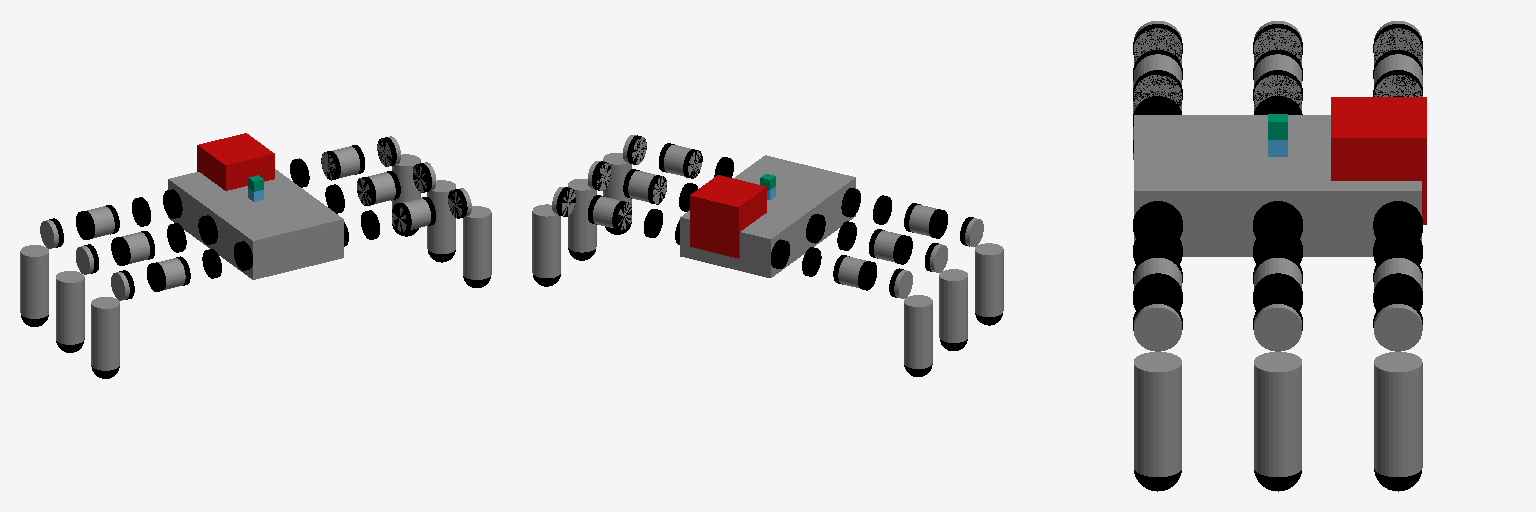
--- Render facts (derived) ---
Views: 3 orthographic renders of the robot side by side, from view 1: azimuth 30°, elevation 25°; view 2: azimuth 150°, elevation 25°; view 3: azimuth 270°, elevation 25°.
Model snake_monster with 95 links and 94 joints (20 revolute, 74 fixed), rooted at base, posed every joint at zero.
Visible links, largest first — view 1: base, imu_link, elbow__leg5__AFTER_CORNER_BODY, elbow__leg4__AFTER_CORNER_BODY, elbow__leg6__AFTER_CORNER_BODY, elbow__leg3__AFTER_CORNER_BODY, elbow__leg2__AFTER_CORNER_BODY, elbow__leg1__AFTER_CORNER_BODY, extender__leg1__INPUT_INTERFACE, extender__leg2__INPUT_INTERFACE, extender__leg3__INPUT_INTERFACE, extender__leg6__INPUT_INTERFACE (+2 smaller); view 2: base, imu_link, elbow__leg5__AFTER_CORNER_BODY, elbow__leg6__AFTER_CORNER_BODY, elbow__leg4__AFTER_CORNER_BODY, elbow__leg1__AFTER_CORNER_BODY, elbow__leg2__AFTER_CORNER_BODY, elbow__leg3__AFTER_CORNER_BODY, extender__leg2__INPUT_INTERFACE, extender__leg3__INPUT_INTERFACE, extender__leg1__INPUT_INTERFACE, extender__leg4__INPUT_INTERFACE (+2 smaller); view 3: base, imu_link, elbow__leg1__AFTER_CORNER_BODY, elbow__leg2__AFTER_CORNER_BODY, elbow__leg3__AFTER_CORNER_BODY, elbow__leg1__INPUT_INTERFACE, elbow__leg2__INPUT_INTERFACE, elbow__leg3__INPUT_INTERFACE, extender__leg5__INPUT_INTERFACE, extender__leg4__INPUT_INTERFACE, extender__leg6__INPUT_INTERFACE, SA030__MoJo__INPUT_INTERFACE__COLLAR (+20 smaller).
Link boxes in pixels (x1,y1,x2,y2): base: (168,169,343,279); imu_link: (197,133,274,190); elbow__leg5__AFTER_CORNER_BODY: (56,271,84,344); elbow__leg4__AFTER_CORNER_BODY: (91,297,119,370); elbow__leg6__AFTER_CORNER_BODY: (20,245,48,318); elbow__leg3__AFTER_CORNER_BODY: (463,206,491,279); elbow__leg2__AFTER_CORNER_BODY: (427,180,455,253); elbow__leg1__AFTER_CORNER_BODY: (392,154,420,225); extender__leg1__INPUT_INTERFACE: (321,146,359,179); extender__leg2__INPUT_INTERFACE: (357,172,395,204); extender__leg3__INPUT_INTERFACE: (392,198,430,231); extender__leg6__INPUT_INTERFACE: (87,206,114,237); base: (680,155,855,277); imu_link: (690,175,766,258); elbow__leg5__AFTER_CORNER_BODY: (939,269,967,342); elbow__leg6__AFTER_CORNER_BODY: (904,295,932,368); elbow__leg4__AFTER_CORNER_BODY: (975,243,1003,316); elbow__leg1__AFTER_CORNER_BODY: (532,204,560,277); elbow__leg2__AFTER_CORNER_BODY: (568,179,596,252); elbow__leg3__AFTER_CORNER_BODY: (603,153,631,223); extender__leg2__INPUT_INTERFACE: (628,171,666,203); extender__leg3__INPUT_INTERFACE: (664,145,701,177); extender__leg1__INPUT_INTERFACE: (593,196,631,229); extender__leg4__INPUT_INTERFACE: (909,205,936,236); base: (1134,115,1421,256); imu_link: (1331,97,1426,224); elbow__leg1__AFTER_CORNER_BODY: (1374,352,1422,476); elbow__leg2__AFTER_CORNER_BODY: (1254,352,1301,476); elbow__leg3__AFTER_CORNER_BODY: (1134,352,1181,476); elbow__leg1__INPUT_INTERFACE: (1374,304,1422,351); elbow__leg2__INPUT_INTERFACE: (1254,304,1301,351); elbow__leg3__INPUT_INTERFACE: (1134,304,1181,351); extender__leg5__INPUT_INTERFACE: (1254,54,1301,106); extender__leg4__INPUT_INTERFACE: (1134,54,1181,106); extender__leg6__INPUT_INTERFACE: (1374,54,1422,96); SA030__MoJo__INPUT_INTERFACE__COLLAR: (1253,273,1302,310).
Size in the robot's own frame: 0.8082 by 0.306 by 0.2593 metres.
Meshes: 4 distinct files referenced, 0 mesh visuals loaded (none loaded); not drawn: 42 (reference not matched to a file when rendering), 1 (file found but could not be loaded).

URDF robot description (snake_monster):
<?xml version="1.0" ?>
<!-- =================================================================================== -->
<!-- |    This document was autogenerated by xacro from my_snake_monster.xacro         | -->
<!-- |    EDITING THIS FILE BY HAND IS NOT RECOMMENDED                                 | -->
<!-- =================================================================================== -->
<robot name="snake_monster" xmlns:xacro="http://www.ros.org/wiki/xacro">
  <!-- *************************** XACRO MACROS *************************** -->
  <!-- ************************* ROBOT DEFINITION ************************* -->
  <!-- base body -->
  <link name="base">
    <visual>
      <origin rpy="0 0 0" xyz="0 0 0.0381"/>
      <geometry>
        <box size="0.185 0.3 0.0762"/>
      </geometry>
      <material name="silver">
        <color rgba="0.6 0.6 0.6 1"/>
      </material>
    </visual>
    <collision>
      <origin rpy="0 0 0" xyz="0 0 0.0381"/>
      <geometry>
        <box size="0.185 0.3 0.0762"/>
      </geometry>
    </collision>
    <inertial>
      <origin rpy="0 0 0" xyz="0 0 0.0381"/>
      <mass value="1.0"/>
      <inertia ixx="0.00798387" ixy="0" ixz="0" iyy="0.00333595333333" iyz="0" izz="0.0103520833333"/>
    </inertial>
  </link>
  <link name="xrot">
    <visual>
      <origin rpy="0 0 0" xyz="0 0 0.01"/>
      <geometry>
        <box size="0.02 0.02 0.02"/>
      </geometry>
    </visual>
    <inertial>
      <mass value="1e-3"/>
      <inertia ixx="1e-3" ixy="0" ixz="0" iyy="1e-3" iyz="0" izz="1e-3"/>
    </inertial>
  </link>
  <joint name="xrot_joint" type="revolute">
    <parent link="base"/>
    <child link="xrot"/>
    <origin rpy="0 0 0" xyz="0 0 0.0762"/>
    <axis xyz="1 0 0"/>
    <dynamics damping=".05" friction="0.2"/>
    <limit effort="100.0" lower="-1.57" upper="1.57" velocity="2.208932"/>
  </joint>
  <transmission name="xrot_trans">
    <type>transmission_interface/SimpleTransmission</type>
    <joint name="xrot_joint">
      <hardwareInterface>EffortJointInterface</hardwareInterface>
    </joint>
    <actuator name="xrot_motor">
      <hardwareInterface>EffortJointInterface</hardwareInterface>
      <mechanicalReduction>300</mechanicalReduction>
    </actuator>
  </transmission>
  <link name="yrot">
    <visual>
      <origin rpy="0 0 0" xyz="0 0 0.01"/>
      <geometry>
        <box size="0.02 0.02 0.02"/>
      </geometry>
    </visual>
    <inertial>
      <mass value="1e-3"/>
      <inertia ixx="1e-3" ixy="0" ixz="0" iyy="1e-3" iyz="0" izz="1e-3"/>
    </inertial>
  </link>
  <joint name="yrot_joint" type="revolute">
    <parent link="xrot"/>
    <child link="yrot"/>
    <origin rpy="0 0 0" xyz="0 0 0.02"/>
    <axis xyz="0 1 0"/>
    <dynamics damping=".05" friction="0.2"/>
    <limit effort="7.0" lower="-1.57" upper="1.57" velocity="2.208932"/>
  </joint>
  <transmission name="yrot_trans">
    <type>transmission_interface/SimpleTransmission</type>
    <joint name="yrot_joint">
      <hardwareInterface>EffortJointInterface</hardwareInterface>
    </joint>
    <actuator name="yrot_motor">
      <hardwareInterface>EffortJointInterface</hardwareInterface>
      <mechanicalReduction>300</mechanicalReduction>
    </actuator>
  </transmission>
  <!-- leg outputs on the base -->
  <joint name="leg1__OUTPUT_INTERFACE" type="fixed">
    <parent link="base"/>
    <child link="SA014__MoJo__INPUT_INTERFACE"/>
    <origin rpy="-1.57079632679 0 -1.57079632679" xyz="0.0925 0.125 0.0381"/>
  </joint>
  <joint name="leg2__OUTPUT_INTERFACE" type="fixed">
    <parent link="base"/>
    <child link="SA037__MoJo__INPUT_INTERFACE"/>
    <origin rpy="-1.57079632679 0 -1.57079632679" xyz="0.0925 0 0.0381"/>
  </joint>
  <joint name="leg3__OUTPUT_INTERFACE" type="fixed">
    <parent link="base"/>
    <child link="SA036__MoJo__INPUT_INTERFACE"/>
    <origin rpy="-1.57079632679 0 -1.57079632679" xyz="0.0925 -0.125 0.0381"/>
  </joint>
  <joint name="leg6__OUTPUT_INTERFACE" type="fixed">
    <parent link="base"/>
    <child link="SA043__MoJo__INPUT_INTERFACE"/>
    <origin rpy="-1.57079632679 0 1.57079632679" xyz="-0.0925 0.125 0.0381"/>
  </joint>
  <joint name="leg5__OUTPUT_INTERFACE" type="fixed">
    <parent link="base"/>
    <child link="SA002__MoJo__INPUT_INTERFACE"/>
    <origin rpy="-1.57079632679 0 1.57079632679" xyz="-0.0925 0 0.0381"/>
  </joint>
  <joint name="leg4__OUTPUT_INTERFACE" type="fixed">
    <parent link="base"/>
    <child link="SA022__MoJo__INPUT_INTERFACE"/>
    <origin rpy="-1.57079632679 0 1.57079632679" xyz="-0.0925 -0.125 0.0381"/>
  </joint>
  <!-- ros_control plugin -->
  <gazebo>
    <plugin filename="libgazebo_ros_control.so" name="gazebo_ros_control">
      <robotNamespace>/snake_monster</robotNamespace>
      <!-- <robotSimType>gazebo_ros_control/DefaultRobotHWSim</robotSimType> -->
    </plugin>
  </gazebo>
  <!-- imu sensor plugin -->
  <gazebo>
    <plugin filename="libgazebo_ros_imu.so" name="ros_imu_sensor">
      <robotNamespace>/snake_monster</robotNamespace>
      <updateRate>200.0</updateRate>
      <gaussianNoise>0.005</gaussianNoise>
      <topicName>sensors/imu</topicName>
      <serviceName>sensors/imu</serviceName>
      <bodyName>imu_link</bodyName>
      <xyzOffset>0 0 0</xyzOffset>
      <rpyOffset>0 0 0</rpyOffset>
    </plugin>
  </gazebo>
  <!--xacro:include filename="$(find kobuki_description)/urdf/sensors/lidar_sensor.urdf.xacro" /-->
  <gazebo reference="base">
    <material>Gazebo/Silver</material>
  </gazebo>
  <gazebo reference="SA014__MoJo__OUTPUT_BODY">
    <material>Gazebo/Red</material>
    <static>false</static>
    <selfCollide>true</selfCollide>
  </gazebo>
  <gazebo reference="SA014__MoJo__INPUT_INTERFACE">
    <material>Gazebo/Red</material>
    <static>false</static>
    <selfCollide>true</selfCollide>
  </gazebo>
  <gazebo reference="SA013__MoJo__OUTPUT_BODY">
    <material>Gazebo/Red</material>
    <static>false</static>
    <selfCollide>true</selfCollide>
  </gazebo>
  <gazebo reference="SA013__MoJo__INPUT_INTERFACE">
    <material>Gazebo/Red</material>
    <static>false</static>
    <selfCollide>true</selfCollide>
  </gazebo>
  <gazebo reference="SA023__MoJo__OUTPUT_BODY">
    <material>Gazebo/Red</material>
    <static>false</static>
    <selfCollide>true</selfCollide>
  </gazebo>
  <gazebo reference="SA023__MoJo__INPUT_INTERFACE">
    <material>Gazebo/Red</material>
    <static>false</static>
    <selfCollide>true</selfCollide>
  </gazebo>
  <gazebo reference="SA023__MoJo__INPUT_INTERFACE__COLLAR">
    <material>Gazebo/Black</material>
    <static>false</static>
    <selfCollide>true</selfCollide>
  </gazebo>
  <gazebo reference="elbow__leg1__INPUT_INTERFACE">
    <material>Gazebo/Silver</material>
    <static>false</static>
    <selfCollide>true</selfCollide>
  </gazebo>
  <gazebo reference="elbow__leg1__INPUT_INTERFACE__COLLAR">
    <material>Gazebo/Black</material>
    <static>false</static>
    <selfCollide>true</selfCollide>
  </gazebo>
  <gazebo reference="elbow__leg1__AFTER_CORNER_BODY">
    <material>Gazebo/Silver</material>
    <static>false</static>
    <selfCollide>true</selfCollide>
  </gazebo>
  <gazebo reference="extender__leg1__INPUT_INTERFACE">
    <material>Gazebo/Silver</material>
    <static>false</static>
    <selfCollide>true</selfCollide>
  </gazebo>
  <gazebo reference="extender__leg1__INPUT_INTERFACE__COLLAR">
    <material>Gazebo/Black</material>
    <static>false</static>
    <selfCollide>true</selfCollide>
  </gazebo>
  <gazebo reference="foot__leg1__INPUT_INTERFACE">
    <mu1>0.9</mu1>
    <mu2>0.9</mu2>
    <material>Gazebo/Black</material>
    <static>false</static>
    <selfCollide>true</selfCollide>
  </gazebo>
  <gazebo reference="SA037__MoJo__OUTPUT_BODY">
    <material>Gazebo/Red</material>
    <static>false</static>
    <selfCollide>true</selfCollide>
  </gazebo>
  <gazebo reference="SA037__MoJo__INPUT_INTERFACE">
    <material>Gazebo/Red</material>
    <static>false</static>
    <selfCollide>true</selfCollide>
  </gazebo>
  <gazebo reference="SA049__MoJo__OUTPUT_BODY">
    <material>Gazebo/Red</material>
    <static>false</static>
    <selfCollide>true</selfCollide>
  </gazebo>
  <gazebo reference="SA049__MoJo__INPUT_INTERFACE">
    <material>Gazebo/Red</material>
    <static>false</static>
    <selfCollide>true</selfCollide>
  </gazebo>
  <gazebo reference="SA030__MoJo__OUTPUT_BODY">
    <material>Gazebo/Red</material>
    <static>false</static>
    <selfCollide>true</selfCollide>
  </gazebo>
  <gazebo reference="SA030__MoJo__INPUT_INTERFACE">
    <material>Gazebo/Red</material>
    <static>false</static>
    <selfCollide>true</selfCollide>
  </gazebo>
  <gazebo reference="SA030__MoJo__INPUT_INTERFACE__COLLAR">
    <material>Gazebo/Black</material>
    <static>false</static>
    <selfCollide>true</selfCollide>
  </gazebo>
  <gazebo reference="elbow__leg2__INPUT_INTERFACE">
    <material>Gazebo/Silver</material>
    <static>false</static>
    <selfCollide>true</selfCollide>
  </gazebo>
  <gazebo reference="elbow__leg2__INPUT_INTERFACE__COLLAR">
    <material>Gazebo/Black</material>
    <static>false</static>
    <selfCollide>true</selfCollide>
  </gazebo>
  <gazebo reference="elbow__leg2__AFTER_CORNER_BODY">
    <material>Gazebo/Silver</material>
    <static>false</static>
    <selfCollide>true</selfCollide>
  </gazebo>
  <gazebo reference="extender__leg2__INPUT_INTERFACE">
    <material>Gazebo/Silver</material>
    <static>false</static>
    <selfCollide>true</selfCollide>
  </gazebo>
  <gazebo reference="extender__leg2__INPUT_INTERFACE__COLLAR">
    <material>Gazebo/Black</material>
    <static>false</static>
    <selfCollide>true</selfCollide>
  </gazebo>
  <gazebo reference="foot__leg2__INPUT_INTERFACE">
    <mu1>0.9</mu1>
    <mu2>0.9</mu2>
    <material>Gazebo/Black</material>
    <static>false</static>
    <selfCollide>true</selfCollide>
  </gazebo>
  <gazebo reference="SA036__MoJo__OUTPUT_BODY">
    <material>Gazebo/Red</material>
    <static>false</static>
    <selfCollide>true</selfCollide>
  </gazebo>
  <gazebo reference="SA036__MoJo__INPUT_INTERFACE">
    <material>Gazebo/Red</material>
    <static>false</static>
    <selfCollide>true</selfCollide>
  </gazebo>
  <gazebo reference="SA046__MoJo__OUTPUT_BODY">
    <material>Gazebo/Red</material>
    <static>false</static>
    <selfCollide>true</selfCollide>
  </gazebo>
  <gazebo reference="SA046__MoJo__INPUT_INTERFACE">
    <material>Gazebo/Red</material>
    <static>false</static>
    <selfCollide>true</selfCollide>
  </gazebo>
  <gazebo reference="SA038__MoJo__OUTPUT_BODY">
    <material>Gazebo/Red</material>
    <static>false</static>
    <selfCollide>true</selfCollide>
  </gazebo>
  <gazebo reference="SA038__MoJo__INPUT_INTERFACE">
    <material>Gazebo/Red</material>
    <static>false</static>
    <selfCollide>true</selfCollide>
  </gazebo>
  <gazebo reference="SA038__MoJo__INPUT_INTERFACE__COLLAR">
    <material>Gazebo/Black</material>
    <static>false</static>
    <selfCollide>true</selfCollide>
  </gazebo>
  <gazebo reference="elbow__leg3__INPUT_INTERFACE">
    <material>Gazebo/Silver</material>
    <static>false</static>
    <selfCollide>true</selfCollide>
  </gazebo>
  <gazebo reference="elbow__leg3__INPUT_INTERFACE__COLLAR">
    <material>Gazebo/Black</material>
    <static>false</static>
    <selfCollide>true</selfCollide>
  </gazebo>
  <gazebo reference="elbow__leg3__AFTER_CORNER_BODY">
    <material>Gazebo/Silver</material>
    <static>false</static>
    <selfCollide>true</selfCollide>
  </gazebo>
  <gazebo reference="extender__leg3__INPUT_INTERFACE">
    <material>Gazebo/Silver</material>
    <static>false</static>
    <selfCollide>true</selfCollide>
  </gazebo>
  <gazebo reference="extender__leg3__INPUT_INTERFACE__COLLAR">
    <material>Gazebo/Black</material>
    <static>false</static>
    <selfCollide>true</selfCollide>
  </gazebo>
  <gazebo reference="foot__leg3__INPUT_INTERFACE">
    <mu1>0.9</mu1>
    <mu2>0.9</mu2>
    <material>Gazebo/Black</material>
    <static>false</static>
    <selfCollide>true</selfCollide>
  </gazebo>
  <gazebo reference="SA022__MoJo__OUTPUT_BODY">
    <material>Gazebo/Red</material>
    <static>false</static>
    <selfCollide>true</selfCollide>
  </gazebo>
  <gazebo reference="SA022__MoJo__INPUT_INTERFACE">
    <material>Gazebo/Red</material>
    <static>false</static>
    <selfCollide>true</selfCollide>
  </gazebo>
  <gazebo reference="SA050__MoJo__OUTPUT_BODY">
    <material>Gazebo/Red</material>
    <static>false</static>
    <selfCollide>true</selfCollide>
  </gazebo>
  <gazebo reference="SA050__MoJo__INPUT_INTERFACE">
    <material>Gazebo/Red</material>
    <static>false</static>
    <selfCollide>true</selfCollide>
  </gazebo>
  <gazebo reference="SA031__MoJo__OUTPUT_BODY">
    <material>Gazebo/Red</material>
    <static>false</static>
    <selfCollide>true</selfCollide>
  </gazebo>
  <gazebo reference="SA031__MoJo__INPUT_INTERFACE">
    <material>Gazebo/Red</material>
    <static>false</static>
    <selfCollide>true</selfCollide>
  </gazebo>
  <gazebo reference="SA031__MoJo__INPUT_INTERFACE__COLLAR">
    <material>Gazebo/Black</material>
    <static>false</static>
    <selfCollide>true</selfCollide>
  </gazebo>
  <gazebo reference="elbow__leg4__INPUT_INTERFACE">
    <material>Gazebo/Silver</material>
    <static>false</static>
    <selfCollide>true</selfCollide>
  </gazebo>
  <gazebo reference="elbow__leg4__INPUT_INTERFACE__COLLAR">
    <material>Gazebo/Black</material>
    <static>false</static>
    <selfCollide>true</selfCollide>
  </gazebo>
  <gazebo reference="elbow__leg4__AFTER_CORNER_BODY">
    <material>Gazebo/Silver</material>
    <static>false</static>
    <selfCollide>true</selfCollide>
  </gazebo>
  <gazebo reference="extender__leg4__INPUT_INTERFACE">
    <material>Gazebo/Silver</material>
    <static>false</static>
    <selfCollide>true</selfCollide>
  </gazebo>
  <gazebo reference="extender__leg4__INPUT_INTERFACE__COLLAR">
    <material>Gazebo/Black</material>
    <static>false</static>
    <selfCollide>true</selfCollide>
  </gazebo>
  <gazebo reference="foot__leg4__INPUT_INTERFACE">
    <mu1>0.9</mu1>
    <mu2>0.9</mu2>
    <material>Gazebo/Black</material>
    <static>false</static>
    <selfCollide>true</selfCollide>
  </gazebo>
  <gazebo reference="SA002__MoJo__OUTPUT_BODY">
    <material>Gazebo/Red</material>
    <static>false</static>
    <selfCollide>true</selfCollide>
  </gazebo>
  <gazebo reference="SA002__MoJo__INPUT_INTERFACE">
    <material>Gazebo/Red</material>
    <static>false</static>
    <selfCollide>true</selfCollide>
  </gazebo>
  <gazebo reference="SA003__MoJo__OUTPUT_BODY">
    <material>Gazebo/Red</material>
    <static>false</static>
    <selfCollide>true</selfCollide>
  </gazebo>
  <gazebo reference="SA003__MoJo__INPUT_INTERFACE">
    <material>Gazebo/Red</material>
    <static>false</static>
    <selfCollide>true</selfCollide>
  </gazebo>
  <gazebo reference="SA048__MoJo__OUTPUT_BODY">
    <material>Gazebo/Red</material>
    <static>false</static>
    <selfCollide>true</selfCollide>
  </gazebo>
  <gazebo reference="SA048__MoJo__INPUT_INTERFACE">
    <material>Gazebo/Red</material>
    <static>false</static>
    <selfCollide>true</selfCollide>
  </gazebo>
  <gazebo reference="SA048__MoJo__INPUT_INTERFACE__COLLAR">
    <material>Gazebo/Black</material>
    <static>false</static>
    <selfCollide>true</selfCollide>
  </gazebo>
  <gazebo reference="elbow__leg5__INPUT_INTERFACE">
    <material>Gazebo/Silver</material>
    <static>false</static>
    <selfCollide>true</selfCollide>
  </gazebo>
  <gazebo reference="elbow__leg5__INPUT_INTERFACE__COLLAR">
    <material>Gazebo/Black</material>
    <static>false</static>
    <selfCollide>true</selfCollide>
  </gazebo>
  <gazebo reference="elbow__leg5__AFTER_CORNER_BODY">
    <material>Gazebo/Silver</material>
    <static>false</static>
    <selfCollide>true</selfCollide>
  </gazebo>
  <gazebo reference="extender__leg5__INPUT_INTERFACE">
    <material>Gazebo/Silver</material>
    <static>false</static>
    <selfCollide>true</selfCollide>
  </gazebo>
  <gazebo reference="extender__leg5__INPUT_INTERFACE__COLLAR">
    <material>Gazebo/Black</material>
    <static>false</static>
    <selfCollide>true</selfCollide>
  </gazebo>
  <gazebo reference="foot__leg5__INPUT_INTERFACE">
    <mu1>0.9</mu1>
    <mu2>0.9</mu2>
    <material>Gazebo/Black</material>
    <static>false</static>
    <selfCollide>true</selfCollide>
  </gazebo>
  <gazebo reference="SA043__MoJo__OUTPUT_BODY">
    <material>Gazebo/Red</material>
    <static>false</static>
    <selfCollide>true</selfCollide>
  </gazebo>
  <gazebo reference="SA043__MoJo__INPUT_INTERFACE">
    <material>Gazebo/Red</material>
    <static>false</static>
    <selfCollide>true</selfCollide>
  </gazebo>
  <gazebo reference="SA005__MoJo__OUTPUT_BODY">
    <material>Gazebo/Red</material>
    <static>false</static>
    <selfCollide>true</selfCollide>
  </gazebo>
  <gazebo reference="SA005__MoJo__INPUT_INTERFACE">
    <material>Gazebo/Red</material>
    <static>false</static>
    <selfCollide>true</selfCollide>
  </gazebo>
  <gazebo reference="SA001__MoJo__OUTPUT_BODY">
    <material>Gazebo/Red</material>
    <static>false</static>
    <selfCollide>true</selfCollide>
  </gazebo>
  <gazebo reference="SA001__MoJo__INPUT_INTERFACE">
    <material>Gazebo/Red</material>
    <static>false</static>
    <selfCollide>true</selfCollide>
  </gazebo>
  <gazebo reference="SA001__MoJo__INPUT_INTERFACE__COLLAR">
    <material>Gazebo/Black</material>
    <static>false</static>
    <selfCollide>true</selfCollide>
  </gazebo>
  <gazebo reference="elbow__leg6__INPUT_INTERFACE">
    <material>Gazebo/Silver</material>
    <static>false</static>
    <selfCollide>true</selfCollide>
  </gazebo>
  <gazebo reference="elbow__leg6__INPUT_INTERFACE__COLLAR">
    <material>Gazebo/Black</material>
    <static>false</static>
    <selfCollide>true</selfCollide>
  </gazebo>
  <gazebo reference="elbow__leg6__AFTER_CORNER_BODY">
    <material>Gazebo/Silver</material>
    <static>false</static>
    <selfCollide>true</selfCollide>
  </gazebo>
  <gazebo reference="extender__leg6__INPUT_INTERFACE">
    <material>Gazebo/Silver</material>
    <static>false</static>
    <selfCollide>true</selfCollide>
  </gazebo>
  <gazebo reference="extender__leg6__INPUT_INTERFACE__COLLAR">
    <material>Gazebo/Black</material>
    <static>false</static>
    <selfCollide>true</selfCollide>
  </gazebo>
  <gazebo reference="foot__leg6__INPUT_INTERFACE">
    <mu1>0.9</mu1>
    <mu2>0.9</mu2>
    <material>Gazebo/Black</material>
    <static>false</static>
    <selfCollide>true</selfCollide>
  </gazebo>
  <gazebo reference="SA014__MoJo">
    <!-- required for joint torque feedback -->
    <provideFeedback>true</provideFeedback>
  </gazebo>
  <!-- joint_torque_sensor plugin -->
  <gazebo>
    <plugin filename="libgazebo_ros_ft_sensor.so" name="SA014__MoJo_ros_ft_sensor">
      <robotNamespace>/snake_monster</robotNamespace>
      <updateRate>200.0</updateRate>
      <gaussianNoise>0.025</gaussianNoise>
      <topicName>sensors/SA014__MoJo/torque</topicName>
      <jointName>SA014__MoJo</jointName>
    </plugin>
  </gazebo>
  <!-- Gazebo 5 contact sensor element isn't working -->
  <gazebo reference="foot__leg1__INPUT_INTERFACE">
    <sensor name="leg1_contact_sensor" type="contact">
      <always_on>true</always_on>
      <update_rate>50</update_rate>
      <contact>
        <collision>leg1_foot_collision_collision</collision>
      </contact>
      <plugin filename="libgazebo_ros_bumper.so" name="leg1_ros_bumper_contacts">
        <robotNamespace>/snake_monster</robotNamespace>
        <bumperTopicName>sensors/leg1_bumper</bumperTopicName>
        <frameName>world</frameName>
      </plugin>
    </sensor>
  </gazebo>
  <!-- Lidar sensor -->
  <gazebo reference="SA013__MoJo">
    <!-- required for joint torque feedback -->
    <provideFeedback>true</provideFeedback>
  </gazebo>
  <!-- joint_torque_sensor plugin -->
  <gazebo>
    <plugin filename="libgazebo_ros_ft_sensor.so" name="SA013__MoJo_ros_ft_sensor">
      <robotNamespace>/snake_monster</robotNamespace>
      <updateRate>200.0</updateRate>
      <gaussianNoise>0.025</gaussianNoise>
      <topicName>sensors/SA013__MoJo/torque</topicName>
      <jointName>SA013__MoJo</jointName>
    </plugin>
  </gazebo>
  <!-- Gazebo 5 contact sensor element isn't working -->
  <gazebo reference="foot__leg1__INPUT_INTERFACE">
    <sensor name="leg1_contact_sensor" type="contact">
      <always_on>true</always_on>
      <update_rate>50</update_rate>
      <contact>
        <collision>leg1_foot_collision_collision</collision>
      </contact>
      <plugin filename="libgazebo_ros_bumper.so" name="leg1_ros_bumper_contacts">
        <robotNamespace>/snake_monster</robotNamespace>
        <bumperTopicName>sensors/leg1_bumper</bumperTopicName>
        <frameName>world</frameName>
      </plugin>
    </sensor>
  </gazebo>
  <!-- Lidar sensor -->
  <gazebo reference="SA023__MoJo">
    <!-- required for joint torque feedback -->
    <provideFeedback>true</provideFeedback>
  </gazebo>
  <!-- joint_torque_sensor plugin -->
  <gazebo>
    <plugin filename="libgazebo_ros_ft_sensor.so" name="SA023__MoJo_ros_ft_sensor">
      <robotNamespace>/snake_monster</robotNamespace>
      <updateRate>200.0</updateRate>
      <gaussianNoise>0.025</gaussianNoise>
      <topicName>sensors/SA023__MoJo/torque</topicName>
      <jointName>SA023__MoJo</jointName>
    </plugin>
  </gazebo>
  <!-- Gazebo 5 contact sensor element isn't working -->
  <gazebo reference="foot__leg1__INPUT_INTERFACE">
    <sensor name="leg1_contact_sensor" type="contact">
      <always_on>true</always_on>
      <update_rate>50</update_rate>
      <contact>
        <collision>leg1_foot_collision_collision</collision>
      </contact>
      <plugin filename="libgazebo_ros_bumper.so" name="leg1_ros_bumper_contacts">
        <robotNamespace>/snake_monster</robotNamespace>
        <bumperTopicName>sensors/leg1_bumper</bumperTopicName>
        <frameName>world</frameName>
      </plugin>
    </sensor>
  </gazebo>
  <!-- Lidar sensor -->
  <gazebo reference="SA037__MoJo">
    <!-- required for joint torque feedback -->
    <provideFeedback>true</provideFeedback>
  </gazebo>
  <!-- joint_torque_sensor plugin -->
  <gazebo>
    <plugin filename="libgazebo_ros_ft_sensor.so" name="SA037__MoJo_ros_ft_sensor">
      <robotNamespace>/snake_monster</robotNamespace>
      <updateRate>200.0</updateRate>
      <gaussianNoise>0.025</gaussianNoise>
      <topicName>sensors/SA037__MoJo/torque</topicName>
      <jointName>SA037__MoJo</jointName>
    </plugin>
  </gazebo>
  <!-- Gazebo 5 contact sensor element isn't working -->
  <gazebo reference="foot__leg1__INPUT_INTERFACE">
    <sensor name="leg1_contact_sensor" type="contact">
      <always_on>true</always_on>
      <update_rate>50</update_rate>
      <contact>
        <collision>leg1_foot_collision_collision</collision>
      </contact>
      <plugin filename="libgazebo_ros_bumper.so" name="leg1_ros_bumper_contacts">
        <robotNamespace>/snake_monster</robotNamespace>
        <bumperTopicName>sensors/leg1_bumper</bumperTopicName>
        <frameName>world</frameName>
      </plugin>
    </sensor>
  </gazebo>
  <!-- Lidar sensor -->
  <gazebo reference="SA049__MoJo">
    <!-- required for joint torque feedback -->
    <provideFeedback>true</provideFeedback>
  </gazebo>
  <!-- joint_torque_sensor plugin -->
  <gazebo>
    <plugin filename="libgazebo_ros_ft_sensor.so" name="SA049__MoJo_ros_ft_sensor">
      <robotNamespace>/snake_monster</robotNamespace>
      <updateRate>200.0</updateRate>
      <gaussianNoise>0.025</gaussianNoise>
      <topicName>sensors/SA049__MoJo/torque</topicName>
      <jointName>SA049__MoJo</jointName>
    </plugin>
  </gazebo>
  <!-- Gazebo 5 contact sensor element isn't working -->
  <gazebo reference="foot__leg1__INPUT_INTERFACE">
    <sensor name="leg1_contact_sensor" type="contact">
      <always_on>true</always_on>
      <update_rate>50</update_rate>
      <contact>
        <collision>leg1_foot_collision_collision</collision>
      </contact>
      <plugin filename="libgazebo_ros_bumper.so" name="leg1_ros_bumper_contacts">
        <robotNamespace>/snake_monster</robotNamespace>
        <bumperTopicName>sensors/leg1_bumper</bumperTopicName>
        <frameName>world</frameName>
      </plugin>
    </sensor>
  </gazebo>
  <!-- Lidar sensor -->
  <gazebo reference="SA030__MoJo">
    <!-- required for joint torque feedback -->
    <provideFeedback>true</provideFeedback>
  </gazebo>
  <!-- joint_torque_sensor plugin -->
  <gazebo>
    <plugin filename="libgazebo_ros_ft_sensor.so" name="SA030__MoJo_ros_ft_sensor">
      <robotNamespace>/snake_monster</robotNamespace>
      <updateRate>200.0</updateRate>
      <gaussianNoise>0.025</gaussianNoise>
      <topicName>sensors/SA030__MoJo/torque</topicName>
      <jointName>SA030__MoJo</jointName>
    </plugin>
  </gazebo>
  <!-- Gazebo 5 contact sensor element isn't working -->
  <gazebo reference="foot__leg1__INPUT_INTERFACE">
    <sensor name="leg1_contact_sensor" type="contact">
      <always_on>true</always_on>
      <update_rate>50</update_rate>
      <contact>
        <collision>leg1_foot_collision_collision</collision>
      </contact>
      <plugin filename="libgazebo_ros_bumper.so" name="leg1_ros_bumper_contacts">
        <robotNamespace>/snake_monster</robotNamespace>
        <bumperTopicName>sensors/leg1_bumper</bumperTopicName>
        <frameName>world</frameName>
      </plugin>
    </sensor>
  </gazebo>
  <!-- Lidar sensor -->
  <gazebo reference="SA036__MoJo">
    <!-- required for joint torque feedback -->
    <provideFeedback>true</provideFeedback>
  </gazebo>
  <!-- joint_torque_sensor plugin -->
  <gazebo>
    <plugin filename="libgazebo_ros_ft_sensor.so" name="SA036__MoJo_ros_ft_sensor">
      <robotNamespace>/snake_monster</robotNamespace>
      <updateRate>200.0</updateRate>
      <gaussianNoise>0.025</gaussianNoise>
      <topicName>sensors/SA036__MoJo/torque</topicName>
      <jointName>SA036__MoJo</jointName>
    </plugin>
  </gazebo>
  <!-- Gazebo 5 contact sensor element isn't working -->
  <gazebo reference="foot__leg1__INPUT_INTERFACE">
    <sensor name="leg1_contact_sensor" type="contact">
      <always_on>true</always_on>
      <update_rate>50</update_rate>
      <contact>
        <collision>leg1_foot_collision_collision</collision>
      </contact>
      <plugin filename="libgazebo_ros_bumper.so" name="leg1_ros_bumper_contacts">
        <robotNamespace>/snake_monster</robotNamespace>
        <bumperTopicName>sensors/leg1_bumper</bumperTopicName>
        <frameName>world</frameName>
      </plugin>
    </sensor>
  </gazebo>
  <!-- Lidar sensor -->
  <gazebo reference="SA046__MoJo">
    <!-- required for joint torque feedback -->
    <provideFeedback>true</provideFeedback>
  </gazebo>
  <!-- joint_torque_sensor plugin -->
  <gazebo>
    <plugin filename="libgazebo_ros_ft_sensor.so" name="SA046__MoJo_ros_ft_sensor">
      <robotNamespace>/snake_monster</robotNamespace>
      <updateRate>200.0</updateRate>
      <gaussianNoise>0.025</gaussianNoise>
      <topicName>sensors/SA046__MoJo/torque</topicName>
      <jointName>SA046__MoJo</jointName>
    </plugin>
  </gazebo>
  <!-- Gazebo 5 contact sensor element isn't working -->
  <gazebo reference="foot__leg1__INPUT_INTERFACE">
    <sensor name="leg1_contact_sensor" type="contact">
      <always_on>true</always_on>
      <update_rate>50</update_rate>
      <contact>
        <collision>leg1_foot_collision_collision</collision>
      </contact>
      <plugin filename="libgazebo_ros_bumper.so" name="leg1_ros_bumper_contacts">
        <robotNamespace>/snake_monster</robotNamespace>
        <bumperTopicName>sensors/leg1_bumper</bumperTopicName>
        <frameName>world</frameName>
      </plugin>
    </sensor>
  </gazebo>
  <!-- Lidar sensor -->
  <gazebo reference="SA038__MoJo">
    <!-- required for joint torque feedback -->
    <provideFeedback>true</provideFeedback>
  </gazebo>
  <!-- joint_torque_sensor plugin -->
  <gazebo>
    <plugin filename="libgazebo_ros_ft_sensor.so" name="SA038__MoJo_ros_ft_sensor">
      <robotNamespace>/snake_monster</robotNamespace>
      <updateRate>200.0</updateRate>
      <gaussianNoise>0.025</gaussianNoise>
      <topicName>sensors/SA038__MoJo/torque</topicName>
      <jointName>SA038__MoJo</jointName>
    </plugin>
  </gazebo>
  <!-- Gazebo 5 contact sensor element isn't working -->
  <gazebo reference="foot__leg1__INPUT_INTERFACE">
    <sensor name="leg1_contact_sensor" type="contact">
      <always_on>true</always_on>
      <update_rate>50</update_rate>
      <contact>
        <collision>leg1_foot_collision_collision</collision>
      </contact>
      <plugin filename="libgazebo_ros_bumper.so" name="leg1_ros_bumper_contacts">
        <robotNamespace>/snake_monster</robotNamespace>
        <bumperTopicName>sensors/leg1_bumper</bumperTopicName>
        <frameName>world</frameName>
      </plugin>
    </sensor>
  </gazebo>
  <!-- Lidar sensor -->
  <gazebo reference="SA022__MoJo">
    <!-- required for joint torque feedback -->
    <provideFeedback>true</provideFeedback>
  </gazebo>
  <!-- joint_torque_sensor plugin -->
  <gazebo>
    <plugin filename="libgazebo_ros_ft_sensor.so" name="SA022__MoJo_ros_ft_sensor">
      <robotNamespace>/snake_monster</robotNamespace>
      <updateRate>200.0</updateRate>
      <gaussianNoise>0.025</gaussianNoise>
      <topicName>sensors/SA022__MoJo/torque</topicName>
      <jointName>SA022__MoJo</jointName>
    </plugin>
  </gazebo>
  <!-- Gazebo 5 contact sensor element isn't working -->
  <gazebo reference="foot__leg1__INPUT_INTERFACE">
    <sensor name="leg1_contact_sensor" type="contact">
      <always_on>true</always_on>
      <update_rate>50</update_rate>
      <contact>
        <collision>leg1_foot_collision_collision</collision>
      </contact>
      <plugin filename="libgazebo_ros_bumper.so" name="leg1_ros_bumper_contacts">
        <robotNamespace>/snake_monster</robotNamespace>
        <bumperTopicName>sensors/leg1_bumper</bumperTopicName>
        <frameName>world</frameName>
      </plugin>
    </sensor>
  </gazebo>
  <!-- Lidar sensor -->
  <gazebo reference="SA050__MoJo">
    <!-- required for joint torque feedback -->
    <provideFeedback>true</provideFeedback>
  </gazebo>
  <!-- joint_torque_sensor plugin -->
  <gazebo>
    <plugin filename="libgazebo_ros_ft_sensor.so" name="SA050__MoJo_ros_ft_sensor">
      <robotNamespace>/snake_monster</robotNamespace>
      <updateRate>200.0</updateRate>
      <gaussianNoise>0.025</gaussianNoise>
      <topicName>sensors/SA050__MoJo/torque</topicName>
      <jointName>SA050__MoJo</jointName>
    </plugin>
  </gazebo>
  <!-- Gazebo 5 contact sensor element isn't working -->
  <gazebo reference="foot__leg1__INPUT_INTERFACE">
    <sensor name="leg1_contact_sensor" type="contact">
      <always_on>true</always_on>
      <update_rate>50</update_rate>
      <contact>
        <collision>leg1_foot_collision_collision</collision>
      </contact>
      <plugin filename="libgazebo_ros_bumper.so" name="leg1_ros_bumper_contacts">
        <robotNamespace>/snake_monster</robotNamespace>
        <bumperTopicName>sensors/leg1_bumper</bumperTopicName>
        <frameName>world</frameName>
      </plugin>
    </sensor>
  </gazebo>
  <!-- Lidar sensor -->
  <gazebo reference="SA031__MoJo">
    <!-- required for joint torque feedback -->
    <provideFeedback>true</provideFeedback>
  </gazebo>
  <!-- joint_torque_sensor plugin -->
  <gazebo>
    <plugin filename="libgazebo_ros_ft_sensor.so" name="SA031__MoJo_ros_ft_sensor">
      <robotNamespace>/snake_monster</robotNamespace>
      <updateRate>200.0</updateRate>
      <gaussianNoise>0.025</gaussianNoise>
      <topicName>sensors/SA031__MoJo/torque</topicName>
      <jointName>SA031__MoJo</jointName>
    </plugin>
  </gazebo>
  <!-- Gazebo 5 contact sensor element isn't working -->
  <gazebo reference="foot__leg1__INPUT_INTERFACE">
    <sensor name="leg1_contact_sensor" type="contact">
      <always_on>true</always_on>
      <update_rate>50</update_rate>
      <contact>
        <collision>leg1_foot_collision_collision</collision>
      </contact>
      <plugin filename="libgazebo_ros_bumper.so" name="leg1_ros_bumper_contacts">
        <robotNamespace>/snake_monster</robotNamespace>
        <bumperTopicName>sensors/leg1_bumper</bumperTopicName>
        <frameName>world</frameName>
      </plugin>
    </sensor>
  </gazebo>
  <!-- Lidar sensor -->
  <gazebo reference="SA002__MoJo">
    <!-- required for joint torque feedback -->
    <provideFeedback>true</provideFeedback>
  </gazebo>
  <!-- joint_torque_sensor plugin -->
  <gazebo>
    <plugin filename="libgazebo_ros_ft_sensor.so" name="SA002__MoJo_ros_ft_sensor">
      <robotNamespace>/snake_monster</robotNamespace>
      <updateRate>200.0</updateRate>
      <gaussianNoise>0.025</gaussianNoise>
      <topicName>sensors/SA002__MoJo/torque</topicName>
      <jointName>SA002__MoJo</jointName>
    </plugin>
  </gazebo>
  <!-- Gazebo 5 contact sensor element isn't working -->
  <gazebo reference="foot__leg1__INPUT_INTERFACE">
    <sensor name="leg1_contact_sensor" type="contact">
      <always_on>true</always_on>
      <update_rate>50</update_rate>
      <contact>
        <collision>leg1_foot_collision_collision</collision>
      </contact>
      <plugin filename="libgazebo_ros_bumper.so" name="leg1_ros_bumper_contacts">
        <robotNamespace>/snake_monster</robotNamespace>
        <bumperTopicName>sensors/leg1_bumper</bumperTopicName>
        <frameName>world</frameName>
      </plugin>
    </sensor>
  </gazebo>
  <!-- Lidar sensor -->
  <gazebo reference="SA003__MoJo">
    <!-- required for joint torque feedback -->
    <provideFeedback>true</provideFeedback>
  </gazebo>
  <!-- joint_torque_sensor plugin -->
  <gazebo>
    <plugin filename="libgazebo_ros_ft_sensor.so" name="SA003__MoJo_ros_ft_sensor">
      <robotNamespace>/snake_monster</robotNamespace>
      <updateRate>200.0</updateRate>
      <gaussianNoise>0.025</gaussianNoise>
      <topicName>sensors/SA003__MoJo/torque</topicName>
      <jointName>SA003__MoJo</jointName>
    </plugin>
  </gazebo>
  <!-- Gazebo 5 contact sensor element isn't working -->
  <gazebo reference="foot__leg1__INPUT_INTERFACE">
    <sensor name="leg1_contact_sensor" type="contact">
      <always_on>true</always_on>
      <update_rate>50</update_rate>
      <contact>
        <collision>leg1_foot_collision_collision</collision>
      </contact>
      <plugin filename="libgazebo_ros_bumper.so" name="leg1_ros_bumper_contacts">
        <robotNamespace>/snake_monster</robotNamespace>
        <bumperTopicName>sensors/leg1_bumper</bumperTopicName>
        <frameName>world</frameName>
      </plugin>
    </sensor>
  </gazebo>
  <!-- Lidar sensor -->
  <gazebo reference="SA048__MoJo">
    <!-- required for joint torque feedback -->
    <provideFeedback>true</provideFeedback>
  </gazebo>
  <!-- joint_torque_sensor plugin -->
  <gazebo>
    <plugin filename="libgazebo_ros_ft_sensor.so" name="SA048__MoJo_ros_ft_sensor">
      <robotNamespace>/snake_monster</robotNamespace>
      <updateRate>200.0</updateRate>
      <gaussianNoise>0.025</gaussianNoise>
      <topicName>sensors/SA048__MoJo/torque</topicName>
      <jointName>SA048__MoJo</jointName>
    </plugin>
  </gazebo>
  <!-- Gazebo 5 contact sensor element isn't working -->
  <gazebo reference="foot__leg1__INPUT_INTERFACE">
    <sensor name="leg1_contact_sensor" type="contact">
      <always_on>true</always_on>
      <update_rate>50</update_rate>
      <contact>
        <collision>leg1_foot_collision_collision</collision>
      </contact>
      <plugin filename="libgazebo_ros_bumper.so" name="leg1_ros_bumper_contacts">
        <robotNamespace>/snake_monster</robotNamespace>
        <bumperTopicName>sensors/leg1_bumper</bumperTopicName>
        <frameName>world</frameName>
      </plugin>
    </sensor>
  </gazebo>
  <!-- Lidar sensor -->
  <gazebo reference="SA043__MoJo">
    <!-- required for joint torque feedback -->
    <provideFeedback>true</provideFeedback>
  </gazebo>
  <!-- joint_torque_sensor plugin -->
  <gazebo>
    <plugin filename="libgazebo_ros_ft_sensor.so" name="SA043__MoJo_ros_ft_sensor">
      <robotNamespace>/snake_monster</robotNamespace>
      <updateRate>200.0</updateRate>
      <gaussianNoise>0.025</gaussianNoise>
      <topicName>sensors/SA043__MoJo/torque</topicName>
      <jointName>SA043__MoJo</jointName>
    </plugin>
  </gazebo>
  <!-- Gazebo 5 contact sensor element isn't working -->
  <gazebo reference="foot__leg1__INPUT_INTERFACE">
    <sensor name="leg1_contact_sensor" type="contact">
      <always_on>true</always_on>
      <update_rate>50</update_rate>
      <contact>
        <collision>leg1_foot_collision_collision</collision>
      </contact>
      <plugin filename="libgazebo_ros_bumper.so" name="leg1_ros_bumper_contacts">
        <robotNamespace>/snake_monster</robotNamespace>
        <bumperTopicName>sensors/leg1_bumper</bumperTopicName>
        <frameName>world</frameName>
      </plugin>
    </sensor>
  </gazebo>
  <!-- Lidar sensor -->
  <gazebo reference="SA005__MoJo">
    <!-- required for joint torque feedback -->
    <provideFeedback>true</provideFeedback>
  </gazebo>
  <!-- joint_torque_sensor plugin -->
  <gazebo>
    <plugin filename="libgazebo_ros_ft_sensor.so" name="SA005__MoJo_ros_ft_sensor">
      <robotNamespace>/snake_monster</robotNamespace>
      <updateRate>200.0</updateRate>
      <gaussianNoise>0.025</gaussianNoise>
      <topicName>sensors/SA005__MoJo/torque</topicName>
      <jointName>SA005__MoJo</jointName>
    </plugin>
  </gazebo>
  <!-- Gazebo 5 contact sensor element isn't working -->
  <gazebo reference="foot__leg1__INPUT_INTERFACE">
    <sensor name="leg1_contact_sensor" type="contact">
      <always_on>true</always_on>
      <update_rate>50</update_rate>
      <contact>
        <collision>leg1_foot_collision_collision</collision>
      </contact>
      <plugin filename="libgazebo_ros_bumper.so" name="leg1_ros_bumper_contacts">
        <robotNamespace>/snake_monster</robotNamespace>
        <bumperTopicName>sensors/leg1_bumper</bumperTopicName>
        <frameName>world</frameName>
      </plugin>
    </sensor>
  </gazebo>
  <!-- Lidar sensor -->
  <gazebo reference="SA001__MoJo">
    <!-- required for joint torque feedback -->
    <provideFeedback>true</provideFeedback>
  </gazebo>
  <!-- joint_torque_sensor plugin -->
  <gazebo>
    <plugin filename="libgazebo_ros_ft_sensor.so" name="SA001__MoJo_ros_ft_sensor">
      <robotNamespace>/snake_monster</robotNamespace>
      <updateRate>200.0</updateRate>
      <gaussianNoise>0.025</gaussianNoise>
      <topicName>sensors/SA001__MoJo/torque</topicName>
      <jointName>SA001__MoJo</jointName>
    </plugin>
  </gazebo>
  <!-- Gazebo 5 contact sensor element isn't working -->
  <gazebo reference="foot__leg1__INPUT_INTERFACE">
    <sensor name="leg1_contact_sensor" type="contact">
      <always_on>true</always_on>
      <update_rate>50</update_rate>
      <contact>
        <collision>leg1_foot_collision_collision</collision>
      </contact>
      <plugin filename="libgazebo_ros_bumper.so" name="leg1_ros_bumper_contacts">
        <robotNamespace>/snake_monster</robotNamespace>
        <bumperTopicName>sensors/leg1_bumper</bumperTopicName>
        <frameName>world</frameName>
      </plugin>
    </sensor>
  </gazebo>
  <!-- Lidar sensor -->
  <!-- Size of square 'camera' box -->
  <joint name="camera_joint" type="fixed">
    <axis xyz="0 1 0"/>
    <origin rpy="0 0 1.57" xyz="0 0.125 0.052"/>
    <parent link="base"/>
    <child link="camera_link"/>
  </joint>
  <!-- Camera -->
  <link name="camera_link">
    <collision>
      <origin rpy="0 0 1.57" xyz="0 0 0.052"/>
      <geometry>
        <box size="0.05 0.05 0.05"/>
      </geometry>
    </collision>
    <visual>
      <origin rpy="0 0 0" xyz="-0.02 -0.02 0.024"/>
      <geometry>
        <mesh filename="package://snake_monster/meshes/gopro.dae"/>
      </geometry>
      <material name="red"/>
    </visual>
    <inertial>
      <mass value="1e-5"/>
      <origin rpy="0 0 0" xyz="0 0 0"/>
      <inertia ixx="1e-6" ixy="0" ixz="0" iyy="1e-6" iyz="0" izz="1e-6"/>
    </inertial>
  </link>
  <!-- Size of square 'camera' box -->
  <joint name="imu_joint" type="fixed">
    <axis xyz="0 1 0"/>
    <origin rpy="0 0 1.57" xyz="0 0.125 0.052"/>
    <parent link="base"/>
    <child link="imu_link"/>
  </joint>
  <!-- IMU -->
  <link name="imu_link">
    <collision>
      <origin rpy="0 0 1.57" xyz="0 0 0.052"/>
      <geometry>
        <box size="0.1 0.1 0.1"/>
      </geometry>
    </collision>
    <visual>
      <origin rpy="0 0 0" xyz="-0.02 -0.02 0.024"/>
      <geometry>
        <box size="0.1 0.1 0.1"/>
      </geometry>
      <material name="red"/>
    </visual>
    <inertial>
      <mass value="1e-5"/>
      <origin rpy="0 0 0" xyz="0 0 0"/>
      <inertia ixx="1e-6" ixy="0" ixz="0" iyy="1e-6" iyz="0" izz="1e-6"/>
    </inertial>
  </link>
  <link name="SA014__MoJo__INPUT_INTERFACE">
    <visual>
      <origin rpy="1.57075 0 0" xyz="0 0 0.035"/>
      <geometry>
        <mesh filename="package://snake_monster/meshes/rotary_input.stl"/>
      </geometry>
      <material name="red">
        <color rgba=".82 0.06 0.06 1"/>
      </material>
    </visual>
    <collision>
      <origin rpy="0 0 0" xyz="0 0 0.0183"/>
      <geometry>
        <cylinder length="0.033" radius="0.026"/>
      </geometry>
    </collision>
    <inertial>
      <origin rpy="0 0 0" xyz="0 0 0.0366"/>
      <mass value="0.103"/>
      <inertia ixx="5.4796e-05" ixy="0" ixz="0" iyy="5.4796e-05" iyz="0" izz="3.4814e-05"/>
    </inertial>
  </link>
  <link name="SA014__MoJo__INPUT_INTERFACE__COLLAR">
    <visual>
      <origin rpy="0 0 0" xyz="0 0 0.005"/>
      <geometry>
        <cylinder length="0.01" radius="0.026"/>
      </geometry>
      <material name="black">
        <color rgba="0 0 0 1"/>
      </material>
    </visual>
  </link>
  <joint name="SA014__MoJo__INPUT_INTERFACE__COLLAR_JOINT" type="fixed">
    <parent link="SA014__MoJo__INPUT_INTERFACE"/>
    <child link="SA014__MoJo__INPUT_INTERFACE__COLLAR"/>
  </joint>
  <joint name="SA014__MoJo" type="revolute">
    <parent link="SA014__MoJo__INPUT_INTERFACE"/>
    <child link="SA014__MoJo__OUTPUT_BODY"/>
    <origin rpy="0 0 0" xyz="0 0 0.0366"/>
    <axis xyz="0 1 0"/>
    <dynamics damping=".1" friction="0.2"/>
    <limit effort="7.0" lower="-1.57" upper="1.57" velocity="2.208932"/>
  </joint>
  <transmission name="SA014__MoJo_trans">
    <type>transmission_interface/SimpleTransmission</type>
    <joint name="SA014__MoJo">
      <hardwareInterface>EffortJointInterface</hardwareInterface>
    </joint>
    <actuator name="SA014__MoJo_motor">
      <hardwareInterface>EffortJointInterface</hardwareInterface>
      <mechanicalReduction>300</mechanicalReduction>
    </actuator>
  </transmission>
  <link name="SA014__MoJo__OUTPUT_BODY">
    <visual>
      <origin rpy="1.57075 0 0" xyz="0 0 0"/>
      <geometry>
        <mesh filename="package://snake_monster/meshes/rotary_output.stl"/>
        <!-- <cylinder radius=".0025" length=".1" /> -->
      </geometry>
      <material name="red">
        <color rgba=".82 0.06 0.06 1"/>
      </material>
    </visual>
    <collision>
      <origin rpy="0 0 0" xyz="0 0 0.0183"/>
      <geometry>
        <cylinder length="0.033" radius="0.026"/>
      </geometry>
    </collision>
    <inertial>
      <origin rpy="0 0 0" xyz="0 0 0"/>
      <mass value="0.103"/>
      <inertia ixx="5.4796e-05" ixy="0" ixz="0" iyy="5.4796e-05" iyz="0" izz="3.4814e-05"/>
    </inertial>
  </link>
  <joint name="SA014__MoJo__OUTPUT_INTERFACE" type="fixed">
    <parent link="SA014__MoJo__OUTPUT_BODY"/>
    <child link="SA013__MoJo__INPUT_INTERFACE"/>
    <origin rpy="0 0 -1.57075" xyz="0 0 0.0273"/>
  </joint>
  <link name="SA013__MoJo__INPUT_INTERFACE">
    <visual>
      <origin rpy="1.57075 0 0" xyz="0 0 0.035"/>
      <geometry>
        <mesh filename="package://snake_monster/meshes/rotary_input.stl"/>
      </geometry>
      <material name="red">
        <color rgba=".82 0.06 0.06 1"/>
      </material>
    </visual>
    <collision>
      <origin rpy="0 0 0" xyz="0 0 0.0183"/>
      <geometry>
        <cylinder length="0.033" radius="0.026"/>
      </geometry>
    </collision>
    <inertial>
      <origin rpy="0 0 0" xyz="0 0 0.0366"/>
      <mass value="0.103"/>
      <inertia ixx="5.4796e-05" ixy="0" ixz="0" iyy="5.4796e-05" iyz="0" izz="3.4814e-05"/>
    </inertial>
  </link>
  <link name="SA013__MoJo__INPUT_INTERFACE__COLLAR">
    <visual>
      <origin rpy="0 0 0" xyz="0 0 0.005"/>
      <geometry>
        <cylinder length="0.01" radius="0.026"/>
      </geometry>
      <material name="black">
        <color rgba="0 0 0 1"/>
      </material>
    </visual>
  </link>
  <joint name="SA013__MoJo__INPUT_INTERFACE__COLLAR_JOINT" type="fixed">
    <parent link="SA013__MoJo__INPUT_INTERFACE"/>
    <child link="SA013__MoJo__INPUT_INTERFACE__COLLAR"/>
  </joint>
  <joint name="SA013__MoJo" type="revolute">
    <parent link="SA013__MoJo__INPUT_INTERFACE"/>
    <child link="SA013__MoJo__OUTPUT_BODY"/>
    <origin rpy="0 0 0" xyz="0 0 0.0366"/>
    <axis xyz="0 1 0"/>
    <dynamics damping=".1" friction="0.2"/>
    <limit effort="7.0" lower="-1.57" upper="1.57" velocity="2.208932"/>
  </joint>
  <transmission name="SA013__MoJo_trans">
    <type>transmission_interface/SimpleTransmission</type>
    <joint name="SA013__MoJo">
      <hardwareInterface>EffortJointInterface</hardwareInterface>
    </joint>
    <actuator name="SA013__MoJo_motor">
      <hardwareInterface>EffortJointInterface</hardwareInterface>
      <mechanicalReduction>300</mechanicalReduction>
    </actuator>
  </transmission>
  <link name="SA013__MoJo__OUTPUT_BODY">
    <visual>
      <origin rpy="1.57075 0 0" xyz="0 0 0"/>
      <geometry>
        <mesh filename="package://snake_monster/meshes/rotary_output.stl"/>
        <!-- <cylinder radius=".0025" length=".1" /> -->
      </geometry>
      <material name="red">
        <color rgba=".82 0.06 0.06 1"/>
      </material>
    </visual>
    <collision>
      <origin rpy="0 0 0" xyz="0 0 0.0183"/>
      <geometry>
        <cylinder length="0.033" radius="0.026"/>
      </geometry>
    </collision>
    <inertial>
      <origin rpy="0 0 0" xyz="0 0 0"/>
      <mass value="0.103"/>
      <inertia ixx="5.4796e-05" ixy="0" ixz="0" iyy="5.4796e-05" iyz="0" izz="3.4814e-05"/>
    </inertial>
  </link>
  <joint name="SA013__MoJo__OUTPUT_INTERFACE" type="fixed">
    <parent link="SA013__MoJo__OUTPUT_BODY"/>
    <child link="extender__leg1__INPUT_INTERFACE"/>
    <origin rpy="0 0 -1.57075" xyz="0 0 0.0273"/>
  </joint>
  <link name="extender__leg1__INPUT_INTERFACE">
    <visual>
      <origin rpy="0 0 0" xyz="0 0 0.025"/>
      <geometry>
        <cylinder length="0.05" radius=".0254"/>
      </geometry>
      <material name="silver">
        <color rgba="0.6 0.6 0.6 1"/>
      </material>
    </visual>
    <collision>
      <origin rpy="0 0 0" xyz="0 0 0.025"/>
      <geometry>
        <cylinder length="0.05" radius=".0254"/>
      </geometry>
    </collision>
    <inertial>
      <origin rpy="0 0 0" xyz="0 0 0.025"/>
      <mass value=".05"/>
      <inertia ixx="2.50134116667e-05" ixy="0" ixz="0" iyy="2.50134116667e-05" iyz="0" izz="2.919349e-05"/>
    </inertial>
  </link>
  <joint name="extender__leg1__OUTPUT_INTERFACE" type="fixed">
    <parent link="extender__leg1__INPUT_INTERFACE"/>
    <child link="SA023__MoJo__INPUT_INTERFACE"/>
    <origin rpy="0 0 1.57079632679" xyz="0 0 0.05"/>
  </joint>
  <link name="extender__leg1__INPUT_INTERFACE__COLLAR">
    <visual>
      <origin rpy="0 0 0" xyz="0 0 0.005"/>
      <geometry>
        <cylinder length="0.01" radius="0.026"/>
      </geometry>
      <material name="black">
        <color rgba="0 0 0 1"/>
      </material>
    </visual>
  </link>
  <joint name="extender__leg1__INPUT_INTERFACE__COLLAR_JOINT" type="fixed">
    <parent link="extender__leg1__INPUT_INTERFACE"/>
    <child link="extender__leg1__INPUT_INTERFACE__COLLAR"/>
  </joint>
  <link name="SA023__MoJo__INPUT_INTERFACE">
    <visual>
      <origin rpy="1.57075 0 0" xyz="0 0 0.035"/>
      <geometry>
        <mesh filename="package://snake_monster/meshes/rotary_input.stl"/>
      </geometry>
      <material name="red">
        <color rgba=".82 0.06 0.06 1"/>
      </material>
    </visual>
    <collision>
      <origin rpy="0 0 0" xyz="0 0 0.0183"/>
      <geometry>
        <cylinder length="0.033" radius="0.026"/>
      </geometry>
    </collision>
    <inertial>
      <origin rpy="0 0 0" xyz="0 0 0.0366"/>
      <mass value="0.103"/>
      <inertia ixx="5.4796e-05" ixy="0" ixz="0" iyy="5.4796e-05" iyz="0" izz="3.4814e-05"/>
    </inertial>
  </link>
  <link name="SA023__MoJo__INPUT_INTERFACE__COLLAR">
    <visual>
      <origin rpy="0 0 0" xyz="0 0 0.005"/>
      <geometry>
        <cylinder length="0.01" radius="0.026"/>
      </geometry>
      <material name="black">
        <color rgba="0 0 0 1"/>
      </material>
    </visual>
  </link>
  <joint name="SA023__MoJo__INPUT_INTERFACE__COLLAR_JOINT" type="fixed">
    <parent link="SA023__MoJo__INPUT_INTERFACE"/>
    <child link="SA023__MoJo__INPUT_INTERFACE__COLLAR"/>
  </joint>
  <joint name="SA023__MoJo" type="revolute">
    <parent link="SA023__MoJo__INPUT_INTERFACE"/>
    <child link="SA023__MoJo__OUTPUT_BODY"/>
    <origin rpy="0 0 0" xyz="0 0 0.0366"/>
    <axis xyz="0 1 0"/>
    <dynamics damping=".1" friction="0.2"/>
    <limit effort="7.0" lower="-1.57" upper="1.57" velocity="2.208932"/>
  </joint>
  <transmission name="SA023__MoJo_trans">
    <type>transmission_interface/SimpleTransmission</type>
    <joint name="SA023__MoJo">
      <hardwareInterface>EffortJointInterface</hardwareInterface>
    </joint>
    <actuator name="SA023__MoJo_motor">
      <hardwareInterface>EffortJointInterface</hardwareInterface>
      <mechanicalReduction>300</mechanicalReduction>
    </actuator>
  </transmission>
  <link name="SA023__MoJo__OUTPUT_BODY">
    <visual>
      <origin rpy="1.57075 0 0" xyz="0 0 0"/>
      <geometry>
        <mesh filename="package://snake_monster/meshes/rotary_output.stl"/>
        <!-- <cylinder radius=".0025" length=".1" /> -->
      </geometry>
      <material name="red">
        <color rgba=".82 0.06 0.06 1"/>
      </material>
    </visual>
    <collision>
      <origin rpy="0 0 0" xyz="0 0 0.0183"/>
      <geometry>
        <cylinder length="0.033" radius="0.026"/>
      </geometry>
    </collision>
    <inertial>
      <origin rpy="0 0 0" xyz="0 0 0"/>
      <mass value="0.103"/>
      <inertia ixx="5.4796e-05" ixy="0" ixz="0" iyy="5.4796e-05" iyz="0" izz="3.4814e-05"/>
    </inertial>
  </link>
  <joint name="SA023__MoJo__OUTPUT_INTERFACE" type="fixed">
    <parent link="SA023__MoJo__OUTPUT_BODY"/>
    <child link="elbow__leg1__INPUT_INTERFACE"/>
    <origin rpy="0 0 -1.57075" xyz="0 0 0.0273"/>
  </joint>
  <link name="elbow__leg1__INPUT_INTERFACE">
    <visual>
      <origin rpy="0 0 0" xyz="0 0 0.00955"/>
      <geometry>
        <cylinder length="0.0191" radius=".0254"/>
      </geometry>
      <material name="silver">
        <color rgba="0.6 0.6 0.6 1"/>
      </material>
    </visual>
    <visual>
      <origin rpy="1.57075 0 3.14159265359" xyz="0.0274 -0.0782 0.0121"/>
      <geometry>
        <mesh filename="package://snake_monster/meshes/elbow_corner.stl"/>
      </geometry>
      <material name="silver">
        <color rgba="0.6 0.6 0.6 1"/>
      </material>
    </visual>
    <collision>
      <origin rpy="0 0 0" xyz="0 0 0.00955"/>
      <geometry>
        <cylinder length="0.0191" radius=".0254"/>
      </geometry>
    </collision>
    <collision>
      <origin rpy="0 0 0" xyz="0 -0.01 0.0311"/>
      <geometry>
        <sphere radius="0.0191"/>
      </geometry>
    </collision>
    <inertial>
      <origin rpy="0 0 0" xyz="0 0 0.0391"/>
      <mass value=".045"/>
      <inertia ixx="8.6260875e-06" ixy="0" ixz="0" iyy="8.6260875e-06" iyz="0" izz="1.45161e-05"/>
    </inertial>
  </link>
  <link name="elbow__leg1__INPUT_INTERFACE__COLLAR">
    <visual>
      <origin rpy="0 0 0" xyz="0 0 0.005"/>
      <geometry>
        <cylinder length="0.01" radius="0.026"/>
      </geometry>
      <material name="black">
        <color rgba="0 0 0 1"/>
      </material>
    </visual>
  </link>
  <joint name="elbow__leg1__INPUT_INTERFACE__COLLAR_JOINT" type="fixed">
    <parent link="elbow__leg1__INPUT_INTERFACE"/>
    <child link="elbow__leg1__INPUT_INTERFACE__COLLAR"/>
  </joint>
  <joint name="elbow__leg1__MID_ELBOW_JOINT" type="fixed">
    <parent link="elbow__leg1__INPUT_INTERFACE"/>
    <child link="elbow__leg1__AFTER_CORNER_BODY"/>
    <origin rpy="-1.57079632679 0 3.14159265359" xyz="0 0 0.0445"/>
  </joint>
  <link name="elbow__leg1__AFTER_CORNER_BODY">
    <visual>
      <origin rpy="0 0 0" xyz="0 0 0.0857"/>
      <geometry>
        <cylinder length="0.1206" radius=".0254"/>
      </geometry>
      <material name="silver">
        <color rgba="0.6 0.6 0.6 1"/>
      </material>
    </visual>
    <collision>
      <origin rpy="0 0 0" xyz="0 0 0.0857"/>
      <geometry>
        <cylinder length="0.1206" radius=".0254"/>
      </geometry>
    </collision>
    <inertial>
      <origin rpy="0 0 0" xyz="0 0 0.0857"/>
      <mass value=".065"/>
      <inertia ixx="1.24599041667e-05" ixy="0" ixz="0" iyy="1.24599041667e-05" iyz="0" izz="2.09677e-05"/>
    </inertial>
  </link>
  <joint name="elbow__leg1__OUTPUT_INTERFACE" type="fixed">
    <parent link="elbow__leg1__AFTER_CORNER_BODY"/>
    <child link="foot__leg1__INPUT_INTERFACE"/>
    <origin rpy="0 0 -1.57079632679" xyz="0 0 0.146"/>
  </joint>
  <!--TODO: check dimensions -->
  <link name="foot__leg1__INPUT_INTERFACE">
    <visual>
      <origin rpy="0 0 0" xyz="0 0 0"/>
      <geometry>
        <sphere radius=".0254"/>
      </geometry>
      <material name="black">
        <color rgba="0 0 0 1"/>
      </material>
    </visual>
    <collision>
      <origin rpy="0 0 0" xyz="0 0 0"/>
      <geometry>
        <sphere radius=".0254"/>
      </geometry>
    </collision>
  </link>
  <link name="SA037__MoJo__INPUT_INTERFACE">
    <visual>
      <origin rpy="1.57075 0 0" xyz="0 0 0.035"/>
      <geometry>
        <mesh filename="package://snake_monster/meshes/rotary_input.stl"/>
      </geometry>
      <material name="red">
        <color rgba=".82 0.06 0.06 1"/>
      </material>
    </visual>
    <collision>
      <origin rpy="0 0 0" xyz="0 0 0.0183"/>
      <geometry>
        <cylinder length="0.033" radius="0.026"/>
      </geometry>
    </collision>
    <inertial>
      <origin rpy="0 0 0" xyz="0 0 0.0366"/>
      <mass value="0.103"/>
      <inertia ixx="5.4796e-05" ixy="0" ixz="0" iyy="5.4796e-05" iyz="0" izz="3.4814e-05"/>
    </inertial>
  </link>
  <link name="SA037__MoJo__INPUT_INTERFACE__COLLAR">
    <visual>
      <origin rpy="0 0 0" xyz="0 0 0.005"/>
      <geometry>
        <cylinder length="0.01" radius="0.026"/>
      </geometry>
      <material name="black">
        <color rgba="0 0 0 1"/>
      </material>
    </visual>
  </link>
  <joint name="SA037__MoJo__INPUT_INTERFACE__COLLAR_JOINT" type="fixed">
    <parent link="SA037__MoJo__INPUT_INTERFACE"/>
    <child link="SA037__MoJo__INPUT_INTERFACE__COLLAR"/>
  </joint>
  <joint name="SA037__MoJo" type="revolute">
    <parent link="SA037__MoJo__INPUT_INTERFACE"/>
    <child link="SA037__MoJo__OUTPUT_BODY"/>
    <origin rpy="0 0 0" xyz="0 0 0.0366"/>
    <axis xyz="0 1 0"/>
    <dynamics damping=".1" friction="0.2"/>
    <limit effort="7.0" lower="-1.57" upper="1.57" velocity="2.208932"/>
  </joint>
  <transmission name="SA037__MoJo_trans">
    <type>transmission_interface/SimpleTransmission</type>
    <joint name="SA037__MoJo">
      <hardwareInterface>EffortJointInterface</hardwareInterface>
    </joint>
    <actuator name="SA037__MoJo_motor">
      <hardwareInterface>EffortJointInterface</hardwareInterface>
      <mechanicalReduction>300</mechanicalReduction>
    </actuator>
  </transmission>
  <link name="SA037__MoJo__OUTPUT_BODY">
    <visual>
      <origin rpy="1.57075 0 0" xyz="0 0 0"/>
      <geometry>
        <mesh filename="package://snake_monster/meshes/rotary_output.stl"/>
        <!-- <cylinder radius=".0025" length=".1" /> -->
      </geometry>
      <material name="red">
        <color rgba=".82 0.06 0.06 1"/>
      </material>
    </visual>
    <collision>
      <origin rpy="0 0 0" xyz="0 0 0.0183"/>
      <geometry>
        <cylinder length="0.033" radius="0.026"/>
      </geometry>
    </collision>
    <inertial>
      <origin rpy="0 0 0" xyz="0 0 0"/>
      <mass value="0.103"/>
      <inertia ixx="5.4796e-05" ixy="0" ixz="0" iyy="5.4796e-05" iyz="0" izz="3.4814e-05"/>
    </inertial>
  </link>
  <joint name="SA037__MoJo__OUTPUT_INTERFACE" type="fixed">
    <parent link="SA037__MoJo__OUTPUT_BODY"/>
    <child link="SA049__MoJo__INPUT_INTERFACE"/>
    <origin rpy="0 0 -1.57075" xyz="0 0 0.0273"/>
  </joint>
  <link name="SA049__MoJo__INPUT_INTERFACE">
    <visual>
      <origin rpy="1.57075 0 0" xyz="0 0 0.035"/>
      <geometry>
        <mesh filename="package://snake_monster/meshes/rotary_input.stl"/>
      </geometry>
      <material name="red">
        <color rgba=".82 0.06 0.06 1"/>
      </material>
    </visual>
    <collision>
      <origin rpy="0 0 0" xyz="0 0 0.0183"/>
      <geometry>
        <cylinder length="0.033" radius="0.026"/>
      </geometry>
    </collision>
    <inertial>
      <origin rpy="0 0 0" xyz="0 0 0.0366"/>
      <mass value="0.103"/>
      <inertia ixx="5.4796e-05" ixy="0" ixz="0" iyy="5.4796e-05" iyz="0" izz="3.4814e-05"/>
    </inertial>
  </link>
  <link name="SA049__MoJo__INPUT_INTERFACE__COLLAR">
    <visual>
      <origin rpy="0 0 0" xyz="0 0 0.005"/>
      <geometry>
        <cylinder length="0.01" radius="0.026"/>
      </geometry>
      <material name="black">
        <color rgba="0 0 0 1"/>
      </material>
    </visual>
  </link>
  <joint name="SA049__MoJo__INPUT_INTERFACE__COLLAR_JOINT" type="fixed">
    <parent link="SA049__MoJo__INPUT_INTERFACE"/>
    <child link="SA049__MoJo__INPUT_INTERFACE__COLLAR"/>
  </joint>
  <joint name="SA049__MoJo" type="revolute">
    <parent link="SA049__MoJo__INPUT_INTERFACE"/>
    <child link="SA049__MoJo__OUTPUT_BODY"/>
    <origin rpy="0 0 0" xyz="0 0 0.0366"/>
    <axis xyz="0 1 0"/>
    <dynamics damping=".1" friction="0.2"/>
    <limit effort="7.0" lower="-1.57" upper="1.57" velocity="2.208932"/>
  </joint>
  <transmission name="SA049__MoJo_trans">
    <type>transmission_interface/SimpleTransmission</type>
    <joint name="SA049__MoJo">
      <hardwareInterface>EffortJointInterface</hardwareInterface>
    </joint>
    <actuator name="SA049__MoJo_motor">
      <hardwareInterface>EffortJointInterface</hardwareInterface>
      <mechanicalReduction>300</mechanicalReduction>
    </actuator>
  </transmission>
  <link name="SA049__MoJo__OUTPUT_BODY">
    <visual>
      <origin rpy="1.57075 0 0" xyz="0 0 0"/>
      <geometry>
        <mesh filename="package://snake_monster/meshes/rotary_output.stl"/>
        <!-- <cylinder radius=".0025" length=".1" /> -->
      </geometry>
      <material name="red">
        <color rgba=".82 0.06 0.06 1"/>
      </material>
    </visual>
    <collision>
      <origin rpy="0 0 0" xyz="0 0 0.0183"/>
      <geometry>
        <cylinder length="0.033" radius="0.026"/>
      </geometry>
    </collision>
    <inertial>
      <origin rpy="0 0 0" xyz="0 0 0"/>
      <mass value="0.103"/>
      <inertia ixx="5.4796e-05" ixy="0" ixz="0" iyy="5.4796e-05" iyz="0" izz="3.4814e-05"/>
    </inertial>
  </link>
  <joint name="SA049__MoJo__OUTPUT_INTERFACE" type="fixed">
    <parent link="SA049__MoJo__OUTPUT_BODY"/>
    <child link="extender__leg2__INPUT_INTERFACE"/>
    <origin rpy="0 0 -1.57075" xyz="0 0 0.0273"/>
  </joint>
  <link name="extender__leg2__INPUT_INTERFACE">
    <visual>
      <origin rpy="0 0 0" xyz="0 0 0.025"/>
      <geometry>
        <cylinder length="0.05" radius=".0254"/>
      </geometry>
      <material name="silver">
        <color rgba="0.6 0.6 0.6 1"/>
      </material>
    </visual>
    <collision>
      <origin rpy="0 0 0" xyz="0 0 0.025"/>
      <geometry>
        <cylinder length="0.05" radius=".0254"/>
      </geometry>
    </collision>
    <inertial>
      <origin rpy="0 0 0" xyz="0 0 0.025"/>
      <mass value=".05"/>
      <inertia ixx="2.50134116667e-05" ixy="0" ixz="0" iyy="2.50134116667e-05" iyz="0" izz="2.919349e-05"/>
    </inertial>
  </link>
  <joint name="extender__leg2__OUTPUT_INTERFACE" type="fixed">
    <parent link="extender__leg2__INPUT_INTERFACE"/>
    <child link="SA030__MoJo__INPUT_INTERFACE"/>
    <origin rpy="0 0 1.57079632679" xyz="0 0 0.05"/>
  </joint>
  <link name="extender__leg2__INPUT_INTERFACE__COLLAR">
    <visual>
      <origin rpy="0 0 0" xyz="0 0 0.005"/>
      <geometry>
        <cylinder length="0.01" radius="0.026"/>
      </geometry>
      <material name="black">
        <color rgba="0 0 0 1"/>
      </material>
    </visual>
  </link>
  <joint name="extender__leg2__INPUT_INTERFACE__COLLAR_JOINT" type="fixed">
    <parent link="extender__leg2__INPUT_INTERFACE"/>
    <child link="extender__leg2__INPUT_INTERFACE__COLLAR"/>
  </joint>
  <link name="SA030__MoJo__INPUT_INTERFACE">
    <visual>
      <origin rpy="1.57075 0 0" xyz="0 0 0.035"/>
      <geometry>
        <mesh filename="package://snake_monster/meshes/rotary_input.stl"/>
      </geometry>
      <material name="red">
        <color rgba=".82 0.06 0.06 1"/>
      </material>
    </visual>
    <collision>
      <origin rpy="0 0 0" xyz="0 0 0.0183"/>
      <geometry>
        <cylinder length="0.033" radius="0.026"/>
      </geometry>
    </collision>
    <inertial>
      <origin rpy="0 0 0" xyz="0 0 0.0366"/>
      <mass value="0.103"/>
      <inertia ixx="5.4796e-05" ixy="0" ixz="0" iyy="5.4796e-05" iyz="0" izz="3.4814e-05"/>
    </inertial>
  </link>
  <link name="SA030__MoJo__INPUT_INTERFACE__COLLAR">
    <visual>
      <origin rpy="0 0 0" xyz="0 0 0.005"/>
      <geometry>
        <cylinder length="0.01" radius="0.026"/>
      </geometry>
      <material name="black">
        <color rgba="0 0 0 1"/>
      </material>
    </visual>
  </link>
  <joint name="SA030__MoJo__INPUT_INTERFACE__COLLAR_JOINT" type="fixed">
    <parent link="SA030__MoJo__INPUT_INTERFACE"/>
    <child link="SA030__MoJo__INPUT_INTERFACE__COLLAR"/>
  </joint>
  <joint name="SA030__MoJo" type="revolute">
    <parent link="SA030__MoJo__INPUT_INTERFACE"/>
    <child link="SA030__MoJo__OUTPUT_BODY"/>
    <origin rpy="0 0 0" xyz="0 0 0.0366"/>
    <axis xyz="0 1 0"/>
    <dynamics damping=".1" friction="0.2"/>
    <limit effort="7.0" lower="-1.57" upper="1.57" velocity="2.208932"/>
  </joint>
  <transmission name="SA030__MoJo_trans">
    <type>transmission_interface/SimpleTransmission</type>
    <joint name="SA030__MoJo">
      <hardwareInterface>EffortJointInterface</hardwareInterface>
    </joint>
    <actuator name="SA030__MoJo_motor">
      <hardwareInterface>EffortJointInterface</hardwareInterface>
      <mechanicalReduction>300</mechanicalReduction>
    </actuator>
  </transmission>
  <link name="SA030__MoJo__OUTPUT_BODY">
    <visual>
      <origin rpy="1.57075 0 0" xyz="0 0 0"/>
      <geometry>
        <mesh filename="package://snake_monster/meshes/rotary_output.stl"/>
        <!-- <cylinder radius=".0025" length=".1" /> -->
      </geometry>
      <material name="red">
        <color rgba=".82 0.06 0.06 1"/>
      </material>
    </visual>
    <collision>
      <origin rpy="0 0 0" xyz="0 0 0.0183"/>
      <geometry>
        <cylinder length="0.033" radius="0.026"/>
      </geometry>
    </collision>
    <inertial>
      <origin rpy="0 0 0" xyz="0 0 0"/>
      <mass value="0.103"/>
      <inertia ixx="5.4796e-05" ixy="0" ixz="0" iyy="5.4796e-05" iyz="0" izz="3.4814e-05"/>
    </inertial>
  </link>
  <joint name="SA030__MoJo__OUTPUT_INTERFACE" type="fixed">
    <parent link="SA030__MoJo__OUTPUT_BODY"/>
    <child link="elbow__leg2__INPUT_INTERFACE"/>
    <origin rpy="0 0 -1.57075" xyz="0 0 0.0273"/>
  </joint>
  <link name="elbow__leg2__INPUT_INTERFACE">
    <visual>
      <origin rpy="0 0 0" xyz="0 0 0.00955"/>
      <geometry>
        <cylinder length="0.0191" radius=".0254"/>
      </geometry>
      <material name="silver">
        <color rgba="0.6 0.6 0.6 1"/>
      </material>
    </visual>
    <visual>
      <origin rpy="1.57075 0 3.14159265359" xyz="0.0274 -0.0782 0.0121"/>
      <geometry>
        <mesh filename="package://snake_monster/meshes/elbow_corner.stl"/>
      </geometry>
      <material name="silver">
        <color rgba="0.6 0.6 0.6 1"/>
      </material>
    </visual>
    <collision>
      <origin rpy="0 0 0" xyz="0 0 0.00955"/>
      <geometry>
        <cylinder length="0.0191" radius=".0254"/>
      </geometry>
    </collision>
    <collision>
      <origin rpy="0 0 0" xyz="0 -0.01 0.0311"/>
      <geometry>
        <sphere radius="0.0191"/>
      </geometry>
    </collision>
    <inertial>
      <origin rpy="0 0 0" xyz="0 0 0.0391"/>
      <mass value=".045"/>
      <inertia ixx="8.6260875e-06" ixy="0" ixz="0" iyy="8.6260875e-06" iyz="0" izz="1.45161e-05"/>
    </inertial>
  </link>
  <link name="elbow__leg2__INPUT_INTERFACE__COLLAR">
    <visual>
      <origin rpy="0 0 0" xyz="0 0 0.005"/>
      <geometry>
        <cylinder length="0.01" radius="0.026"/>
      </geometry>
      <material name="black">
        <color rgba="0 0 0 1"/>
      </material>
    </visual>
  </link>
  <joint name="elbow__leg2__INPUT_INTERFACE__COLLAR_JOINT" type="fixed">
    <parent link="elbow__leg2__INPUT_INTERFACE"/>
    <child link="elbow__leg2__INPUT_INTERFACE__COLLAR"/>
  </joint>
  <joint name="elbow__leg2__MID_ELBOW_JOINT" type="fixed">
    <parent link="elbow__leg2__INPUT_INTERFACE"/>
    <child link="elbow__leg2__AFTER_CORNER_BODY"/>
    <origin rpy="-1.57079632679 0 3.14159265359" xyz="0 0 0.0445"/>
  </joint>
  <link name="elbow__leg2__AFTER_CORNER_BODY">
    <visual>
      <origin rpy="0 0 0" xyz="0 0 0.0857"/>
      <geometry>
        <cylinder length="0.1206" radius=".0254"/>
      </geometry>
      <material name="silver">
        <color rgba="0.6 0.6 0.6 1"/>
      </material>
    </visual>
    <collision>
      <origin rpy="0 0 0" xyz="0 0 0.0857"/>
      <geometry>
        <cylinder length="0.1206" radius=".0254"/>
      </geometry>
    </collision>
    <inertial>
      <origin rpy="0 0 0" xyz="0 0 0.0857"/>
      <mass value=".065"/>
      <inertia ixx="1.24599041667e-05" ixy="0" ixz="0" iyy="1.24599041667e-05" iyz="0" izz="2.09677e-05"/>
    </inertial>
  </link>
  <joint name="elbow__leg2__OUTPUT_INTERFACE" type="fixed">
    <parent link="elbow__leg2__AFTER_CORNER_BODY"/>
    <child link="foot__leg2__INPUT_INTERFACE"/>
    <origin rpy="0 0 -1.57079632679" xyz="0 0 0.146"/>
  </joint>
  <!--TODO: check dimensions -->
  <link name="foot__leg2__INPUT_INTERFACE">
    <visual>
      <origin rpy="0 0 0" xyz="0 0 0"/>
      <geometry>
        <sphere radius=".0254"/>
      </geometry>
      <material name="black">
        <color rgba="0 0 0 1"/>
      </material>
    </visual>
    <collision>
      <origin rpy="0 0 0" xyz="0 0 0"/>
      <geometry>
        <sphere radius=".0254"/>
      </geometry>
    </collision>
  </link>
  <link name="SA036__MoJo__INPUT_INTERFACE">
    <visual>
      <origin rpy="1.57075 0 0" xyz="0 0 0.035"/>
      <geometry>
        <mesh filename="package://snake_monster/meshes/rotary_input.stl"/>
      </geometry>
      <material name="red">
        <color rgba=".82 0.06 0.06 1"/>
      </material>
    </visual>
    <collision>
      <origin rpy="0 0 0" xyz="0 0 0.0183"/>
      <geometry>
        <cylinder length="0.033" radius="0.026"/>
      </geometry>
    </collision>
    <inertial>
      <origin rpy="0 0 0" xyz="0 0 0.0366"/>
      <mass value="0.103"/>
      <inertia ixx="5.4796e-05" ixy="0" ixz="0" iyy="5.4796e-05" iyz="0" izz="3.4814e-05"/>
    </inertial>
  </link>
  <link name="SA036__MoJo__INPUT_INTERFACE__COLLAR">
    <visual>
      <origin rpy="0 0 0" xyz="0 0 0.005"/>
      <geometry>
        <cylinder length="0.01" radius="0.026"/>
      </geometry>
      <material name="black">
        <color rgba="0 0 0 1"/>
      </material>
    </visual>
  </link>
  <joint name="SA036__MoJo__INPUT_INTERFACE__COLLAR_JOINT" type="fixed">
    <parent link="SA036__MoJo__INPUT_INTERFACE"/>
    <child link="SA036__MoJo__INPUT_INTERFACE__COLLAR"/>
  </joint>
  <joint name="SA036__MoJo" type="revolute">
    <parent link="SA036__MoJo__INPUT_INTERFACE"/>
    <child link="SA036__MoJo__OUTPUT_BODY"/>
    <origin rpy="0 0 0" xyz="0 0 0.0366"/>
    <axis xyz="0 1 0"/>
    <dynamics damping=".1" friction="0.2"/>
    <limit effort="7.0" lower="-1.57" upper="1.57" velocity="2.208932"/>
  </joint>
  <transmission name="SA036__MoJo_trans">
    <type>transmission_interface/SimpleTransmission</type>
    <joint name="SA036__MoJo">
      <hardwareInterface>EffortJointInterface</hardwareInterface>
    </joint>
    <actuator name="SA036__MoJo_motor">
      <hardwareInterface>EffortJointInterface</hardwareInterface>
      <mechanicalReduction>300</mechanicalReduction>
    </actuator>
  </transmission>
  <link name="SA036__MoJo__OUTPUT_BODY">
    <visual>
      <origin rpy="1.57075 0 0" xyz="0 0 0"/>
      <geometry>
        <mesh filename="package://snake_monster/meshes/rotary_output.stl"/>
        <!-- <cylinder radius=".0025" length=".1" /> -->
      </geometry>
      <material name="red">
        <color rgba=".82 0.06 0.06 1"/>
      </material>
    </visual>
    <collision>
      <origin rpy="0 0 0" xyz="0 0 0.0183"/>
      <geometry>
        <cylinder length="0.033" radius="0.026"/>
      </geometry>
    </collision>
    <inertial>
      <origin rpy="0 0 0" xyz="0 0 0"/>
      <mass value="0.103"/>
      <inertia ixx="5.4796e-05" ixy="0" ixz="0" iyy="5.4796e-05" iyz="0" izz="3.4814e-05"/>
    </inertial>
  </link>
  <joint name="SA036__MoJo__OUTPUT_INTERFACE" type="fixed">
    <parent link="SA036__MoJo__OUTPUT_BODY"/>
    <child link="SA046__MoJo__INPUT_INTERFACE"/>
    <origin rpy="0 0 -1.57075" xyz="0 0 0.0273"/>
  </joint>
  <link name="SA046__MoJo__INPUT_INTERFACE">
    <visual>
      <origin rpy="1.57075 0 0" xyz="0 0 0.035"/>
      <geometry>
        <mesh filename="package://snake_monster/meshes/rotary_input.stl"/>
      </geometry>
      <material name="red">
        <color rgba=".82 0.06 0.06 1"/>
      </material>
    </visual>
    <collision>
      <origin rpy="0 0 0" xyz="0 0 0.0183"/>
      <geometry>
        <cylinder length="0.033" radius="0.026"/>
      </geometry>
    </collision>
    <inertial>
      <origin rpy="0 0 0" xyz="0 0 0.0366"/>
      <mass value="0.103"/>
      <inertia ixx="5.4796e-05" ixy="0" ixz="0" iyy="5.4796e-05" iyz="0" izz="3.4814e-05"/>
    </inertial>
  </link>
  <link name="SA046__MoJo__INPUT_INTERFACE__COLLAR">
    <visual>
      <origin rpy="0 0 0" xyz="0 0 0.005"/>
      <geometry>
        <cylinder length="0.01" radius="0.026"/>
      </geometry>
      <material name="black">
        <color rgba="0 0 0 1"/>
      </material>
    </visual>
  </link>
  <joint name="SA046__MoJo__INPUT_INTERFACE__COLLAR_JOINT" type="fixed">
    <parent link="SA046__MoJo__INPUT_INTERFACE"/>
    <child link="SA046__MoJo__INPUT_INTERFACE__COLLAR"/>
  </joint>
  <joint name="SA046__MoJo" type="revolute">
    <parent link="SA046__MoJo__INPUT_INTERFACE"/>
    <child link="SA046__MoJo__OUTPUT_BODY"/>
    <origin rpy="0 0 0" xyz="0 0 0.0366"/>
    <axis xyz="0 1 0"/>
    <dynamics damping=".1" friction="0.2"/>
    <limit effort="7.0" lower="-1.57" upper="1.57" velocity="2.208932"/>
  </joint>
  <transmission name="SA046__MoJo_trans">
    <type>transmission_interface/SimpleTransmission</type>
    <joint name="SA046__MoJo">
      <hardwareInterface>EffortJointInterface</hardwareInterface>
    </joint>
    <actuator name="SA046__MoJo_motor">
      <hardwareInterface>EffortJointInterface</hardwareInterface>
      <mechanicalReduction>300</mechanicalReduction>
    </actuator>
  </transmission>
  <link name="SA046__MoJo__OUTPUT_BODY">
    <visual>
      <origin rpy="1.57075 0 0" xyz="0 0 0"/>
      <geometry>
        <mesh filename="package://snake_monster/meshes/rotary_output.stl"/>
        <!-- <cylinder radius=".0025" length=".1" /> -->
      </geometry>
      <material name="red">
        <color rgba=".82 0.06 0.06 1"/>
      </material>
    </visual>
    <collision>
      <origin rpy="0 0 0" xyz="0 0 0.0183"/>
      <geometry>
        <cylinder length="0.033" radius="0.026"/>
      </geometry>
    </collision>
    <inertial>
      <origin rpy="0 0 0" xyz="0 0 0"/>
      <mass value="0.103"/>
      <inertia ixx="5.4796e-05" ixy="0" ixz="0" iyy="5.4796e-05" iyz="0" izz="3.4814e-05"/>
    </inertial>
  </link>
  <joint name="SA046__MoJo__OUTPUT_INTERFACE" type="fixed">
    <parent link="SA046__MoJo__OUTPUT_BODY"/>
    <child link="extender__leg3__INPUT_INTERFACE"/>
    <origin rpy="0 0 -1.57075" xyz="0 0 0.0273"/>
  </joint>
  <link name="extender__leg3__INPUT_INTERFACE">
    <visual>
      <origin rpy="0 0 0" xyz="0 0 0.025"/>
      <geometry>
        <cylinder length="0.05" radius=".0254"/>
      </geometry>
      <material name="silver">
        <color rgba="0.6 0.6 0.6 1"/>
      </material>
    </visual>
    <collision>
      <origin rpy="0 0 0" xyz="0 0 0.025"/>
      <geometry>
        <cylinder length="0.05" radius=".0254"/>
      </geometry>
    </collision>
    <inertial>
      <origin rpy="0 0 0" xyz="0 0 0.025"/>
      <mass value=".05"/>
      <inertia ixx="2.50134116667e-05" ixy="0" ixz="0" iyy="2.50134116667e-05" iyz="0" izz="2.919349e-05"/>
    </inertial>
  </link>
  <joint name="extender__leg3__OUTPUT_INTERFACE" type="fixed">
    <parent link="extender__leg3__INPUT_INTERFACE"/>
    <child link="SA038__MoJo__INPUT_INTERFACE"/>
    <origin rpy="0 0 1.57079632679" xyz="0 0 0.05"/>
  </joint>
  <link name="extender__leg3__INPUT_INTERFACE__COLLAR">
    <visual>
      <origin rpy="0 0 0" xyz="0 0 0.005"/>
      <geometry>
        <cylinder length="0.01" radius="0.026"/>
      </geometry>
      <material name="black">
        <color rgba="0 0 0 1"/>
      </material>
    </visual>
  </link>
  <joint name="extender__leg3__INPUT_INTERFACE__COLLAR_JOINT" type="fixed">
    <parent link="extender__leg3__INPUT_INTERFACE"/>
    <child link="extender__leg3__INPUT_INTERFACE__COLLAR"/>
  </joint>
  <link name="SA038__MoJo__INPUT_INTERFACE">
    <visual>
      <origin rpy="1.57075 0 0" xyz="0 0 0.035"/>
      <geometry>
        <mesh filename="package://snake_monster/meshes/rotary_input.stl"/>
      </geometry>
      <material name="red">
        <color rgba=".82 0.06 0.06 1"/>
      </material>
    </visual>
    <collision>
      <origin rpy="0 0 0" xyz="0 0 0.0183"/>
      <geometry>
        <cylinder length="0.033" radius="0.026"/>
      </geometry>
    </collision>
    <inertial>
      <origin rpy="0 0 0" xyz="0 0 0.0366"/>
      <mass value="0.103"/>
      <inertia ixx="5.4796e-05" ixy="0" ixz="0" iyy="5.4796e-05" iyz="0" izz="3.4814e-05"/>
    </inertial>
  </link>
  <link name="SA038__MoJo__INPUT_INTERFACE__COLLAR">
    <visual>
      <origin rpy="0 0 0" xyz="0 0 0.005"/>
      <geometry>
        <cylinder length="0.01" radius="0.026"/>
      </geometry>
      <material name="black">
        <color rgba="0 0 0 1"/>
      </material>
    </visual>
  </link>
  <joint name="SA038__MoJo__INPUT_INTERFACE__COLLAR_JOINT" type="fixed">
    <parent link="SA038__MoJo__INPUT_INTERFACE"/>
    <child link="SA038__MoJo__INPUT_INTERFACE__COLLAR"/>
  </joint>
  <joint name="SA038__MoJo" type="revolute">
    <parent link="SA038__MoJo__INPUT_INTERFACE"/>
    <child link="SA038__MoJo__OUTPUT_BODY"/>
    <origin rpy="0 0 0" xyz="0 0 0.0366"/>
    <axis xyz="0 1 0"/>
    <dynamics damping=".1" friction="0.2"/>
    <limit effort="7.0" lower="-1.57" upper="1.57" velocity="2.208932"/>
  </joint>
  <transmission name="SA038__MoJo_trans">
    <type>transmission_interface/SimpleTransmission</type>
    <joint name="SA038__MoJo">
      <hardwareInterface>EffortJointInterface</hardwareInterface>
    </joint>
    <actuator name="SA038__MoJo_motor">
      <hardwareInterface>EffortJointInterface</hardwareInterface>
      <mechanicalReduction>300</mechanicalReduction>
    </actuator>
  </transmission>
  <link name="SA038__MoJo__OUTPUT_BODY">
    <visual>
      <origin rpy="1.57075 0 0" xyz="0 0 0"/>
      <geometry>
        <mesh filename="package://snake_monster/meshes/rotary_output.stl"/>
        <!-- <cylinder radius=".0025" length=".1" /> -->
      </geometry>
      <material name="red">
        <color rgba=".82 0.06 0.06 1"/>
      </material>
    </visual>
    <collision>
      <origin rpy="0 0 0" xyz="0 0 0.0183"/>
      <geometry>
        <cylinder length="0.033" radius="0.026"/>
      </geometry>
    </collision>
    <inertial>
      <origin rpy="0 0 0" xyz="0 0 0"/>
      <mass value="0.103"/>
      <inertia ixx="5.4796e-05" ixy="0" ixz="0" iyy="5.4796e-05" iyz="0" izz="3.4814e-05"/>
    </inertial>
  </link>
  <joint name="SA038__MoJo__OUTPUT_INTERFACE" type="fixed">
    <parent link="SA038__MoJo__OUTPUT_BODY"/>
    <child link="elbow__leg3__INPUT_INTERFACE"/>
    <origin rpy="0 0 -1.57075" xyz="0 0 0.0273"/>
  </joint>
  <link name="elbow__leg3__INPUT_INTERFACE">
    <visual>
      <origin rpy="0 0 0" xyz="0 0 0.00955"/>
      <geometry>
        <cylinder length="0.0191" radius=".0254"/>
      </geometry>
      <material name="silver">
        <color rgba="0.6 0.6 0.6 1"/>
      </material>
    </visual>
    <visual>
      <origin rpy="1.57075 0 3.14159265359" xyz="0.0274 -0.0782 0.0121"/>
      <geometry>
        <mesh filename="package://snake_monster/meshes/elbow_corner.stl"/>
      </geometry>
      <material name="silver">
        <color rgba="0.6 0.6 0.6 1"/>
      </material>
    </visual>
    <collision>
      <origin rpy="0 0 0" xyz="0 0 0.00955"/>
      <geometry>
        <cylinder length="0.0191" radius=".0254"/>
      </geometry>
    </collision>
    <collision>
      <origin rpy="0 0 0" xyz="0 -0.01 0.0311"/>
      <geometry>
        <sphere radius="0.0191"/>
      </geometry>
    </collision>
    <inertial>
      <origin rpy="0 0 0" xyz="0 0 0.0391"/>
      <mass value=".045"/>
      <inertia ixx="8.6260875e-06" ixy="0" ixz="0" iyy="8.6260875e-06" iyz="0" izz="1.45161e-05"/>
    </inertial>
  </link>
  <link name="elbow__leg3__INPUT_INTERFACE__COLLAR">
    <visual>
      <origin rpy="0 0 0" xyz="0 0 0.005"/>
      <geometry>
        <cylinder length="0.01" radius="0.026"/>
      </geometry>
      <material name="black">
        <color rgba="0 0 0 1"/>
      </material>
    </visual>
  </link>
  <joint name="elbow__leg3__INPUT_INTERFACE__COLLAR_JOINT" type="fixed">
    <parent link="elbow__leg3__INPUT_INTERFACE"/>
    <child link="elbow__leg3__INPUT_INTERFACE__COLLAR"/>
  </joint>
  <joint name="elbow__leg3__MID_ELBOW_JOINT" type="fixed">
    <parent link="elbow__leg3__INPUT_INTERFACE"/>
    <child link="elbow__leg3__AFTER_CORNER_BODY"/>
    <origin rpy="-1.57079632679 0 3.14159265359" xyz="0 0 0.0445"/>
  </joint>
  <link name="elbow__leg3__AFTER_CORNER_BODY">
    <visual>
      <origin rpy="0 0 0" xyz="0 0 0.0857"/>
      <geometry>
        <cylinder length="0.1206" radius=".0254"/>
      </geometry>
      <material name="silver">
        <color rgba="0.6 0.6 0.6 1"/>
      </material>
    </visual>
    <collision>
      <origin rpy="0 0 0" xyz="0 0 0.0857"/>
      <geometry>
        <cylinder length="0.1206" radius=".0254"/>
      </geometry>
    </collision>
    <inertial>
      <origin rpy="0 0 0" xyz="0 0 0.0857"/>
      <mass value=".065"/>
      <inertia ixx="1.24599041667e-05" ixy="0" ixz="0" iyy="1.24599041667e-05" iyz="0" izz="2.09677e-05"/>
    </inertial>
  </link>
  <joint name="elbow__leg3__OUTPUT_INTERFACE" type="fixed">
    <parent link="elbow__leg3__AFTER_CORNER_BODY"/>
    <child link="foot__leg3__INPUT_INTERFACE"/>
    <origin rpy="0 0 -1.57079632679" xyz="0 0 0.146"/>
  </joint>
  <!--TODO: check dimensions -->
  <link name="foot__leg3__INPUT_INTERFACE">
    <visual>
      <origin rpy="0 0 0" xyz="0 0 0"/>
      <geometry>
        <sphere radius=".0254"/>
      </geometry>
      <material name="black">
        <color rgba="0 0 0 1"/>
      </material>
    </visual>
    <collision>
      <origin rpy="0 0 0" xyz="0 0 0"/>
      <geometry>
        <sphere radius=".0254"/>
      </geometry>
    </collision>
  </link>
  <link name="SA022__MoJo__INPUT_INTERFACE">
    <visual>
      <origin rpy="1.57075 0 0" xyz="0 0 0.035"/>
      <geometry>
        <mesh filename="package://snake_monster/meshes/rotary_input.stl"/>
      </geometry>
      <material name="red">
        <color rgba=".82 0.06 0.06 1"/>
      </material>
    </visual>
    <collision>
      <origin rpy="0 0 0" xyz="0 0 0.0183"/>
      <geometry>
        <cylinder length="0.033" radius="0.026"/>
      </geometry>
    </collision>
    <inertial>
      <origin rpy="0 0 0" xyz="0 0 0.0366"/>
      <mass value="0.103"/>
      <inertia ixx="5.4796e-05" ixy="0" ixz="0" iyy="5.4796e-05" iyz="0" izz="3.4814e-05"/>
    </inertial>
  </link>
  <link name="SA022__MoJo__INPUT_INTERFACE__COLLAR">
    <visual>
      <origin rpy="0 0 0" xyz="0 0 0.005"/>
      <geometry>
        <cylinder length="0.01" radius="0.026"/>
      </geometry>
      <material name="black">
        <color rgba="0 0 0 1"/>
      </material>
    </visual>
  </link>
  <joint name="SA022__MoJo__INPUT_INTERFACE__COLLAR_JOINT" type="fixed">
    <parent link="SA022__MoJo__INPUT_INTERFACE"/>
    <child link="SA022__MoJo__INPUT_INTERFACE__COLLAR"/>
  </joint>
  <joint name="SA022__MoJo" type="revolute">
    <parent link="SA022__MoJo__INPUT_INTERFACE"/>
    <child link="SA022__MoJo__OUTPUT_BODY"/>
    <origin rpy="0 0 0" xyz="0 0 0.0366"/>
    <axis xyz="0 1 0"/>
    <dynamics damping=".1" friction="0.2"/>
    <limit effort="7.0" lower="-1.57" upper="1.57" velocity="2.208932"/>
  </joint>
  <transmission name="SA022__MoJo_trans">
    <type>transmission_interface/SimpleTransmission</type>
    <joint name="SA022__MoJo">
      <hardwareInterface>EffortJointInterface</hardwareInterface>
    </joint>
    <actuator name="SA022__MoJo_motor">
      <hardwareInterface>EffortJointInterface</hardwareInterface>
      <mechanicalReduction>300</mechanicalReduction>
    </actuator>
  </transmission>
  <link name="SA022__MoJo__OUTPUT_BODY">
    <visual>
      <origin rpy="1.57075 0 0" xyz="0 0 0"/>
      <geometry>
        <mesh filename="package://snake_monster/meshes/rotary_output.stl"/>
        <!-- <cylinder radius=".0025" length=".1" /> -->
      </geometry>
      <material name="red">
        <color rgba=".82 0.06 0.06 1"/>
      </material>
    </visual>
    <collision>
      <origin rpy="0 0 0" xyz="0 0 0.0183"/>
      <geometry>
        <cylinder length="0.033" radius="0.026"/>
      </geometry>
    </collision>
    <inertial>
      <origin rpy="0 0 0" xyz="0 0 0"/>
      <mass value="0.103"/>
      <inertia ixx="5.4796e-05" ixy="0" ixz="0" iyy="5.4796e-05" iyz="0" izz="3.4814e-05"/>
    </inertial>
  </link>
  <joint name="SA022__MoJo__OUTPUT_INTERFACE" type="fixed">
    <parent link="SA022__MoJo__OUTPUT_BODY"/>
    <child link="SA050__MoJo__INPUT_INTERFACE"/>
    <origin rpy="0 0 -1.57075" xyz="0 0 0.0273"/>
  </joint>
  <link name="SA050__MoJo__INPUT_INTERFACE">
    <visual>
      <origin rpy="1.57075 0 0" xyz="0 0 0.035"/>
      <geometry>
        <mesh filename="package://snake_monster/meshes/rotary_input.stl"/>
      </geometry>
      <material name="red">
        <color rgba=".82 0.06 0.06 1"/>
      </material>
    </visual>
    <collision>
      <origin rpy="0 0 0" xyz="0 0 0.0183"/>
      <geometry>
        <cylinder length="0.033" radius="0.026"/>
      </geometry>
    </collision>
    <inertial>
      <origin rpy="0 0 0" xyz="0 0 0.0366"/>
      <mass value="0.103"/>
      <inertia ixx="5.4796e-05" ixy="0" ixz="0" iyy="5.4796e-05" iyz="0" izz="3.4814e-05"/>
    </inertial>
  </link>
  <link name="SA050__MoJo__INPUT_INTERFACE__COLLAR">
    <visual>
      <origin rpy="0 0 0" xyz="0 0 0.005"/>
      <geometry>
        <cylinder length="0.01" radius="0.026"/>
      </geometry>
      <material name="black">
        <color rgba="0 0 0 1"/>
      </material>
    </visual>
  </link>
  <joint name="SA050__MoJo__INPUT_INTERFACE__COLLAR_JOINT" type="fixed">
    <parent link="SA050__MoJo__INPUT_INTERFACE"/>
    <child link="SA050__MoJo__INPUT_INTERFACE__COLLAR"/>
  </joint>
  <joint name="SA050__MoJo" type="revolute">
    <parent link="SA050__MoJo__INPUT_INTERFACE"/>
    <child link="SA050__MoJo__OUTPUT_BODY"/>
    <origin rpy="0 0 0" xyz="0 0 0.0366"/>
    <axis xyz="0 1 0"/>
    <dynamics damping=".1" friction="0.2"/>
    <limit effort="7.0" lower="-1.57" upper="1.57" velocity="2.208932"/>
  </joint>
  <transmission name="SA050__MoJo_trans">
    <type>transmission_interface/SimpleTransmission</type>
    <joint name="SA050__MoJo">
      <hardwareInterface>EffortJointInterface</hardwareInterface>
    </joint>
    <actuator name="SA050__MoJo_motor">
      <hardwareInterface>EffortJointInterface</hardwareInterface>
      <mechanicalReduction>300</mechanicalReduction>
    </actuator>
  </transmission>
  <link name="SA050__MoJo__OUTPUT_BODY">
    <visual>
      <origin rpy="1.57075 0 0" xyz="0 0 0"/>
      <geometry>
        <mesh filename="package://snake_monster/meshes/rotary_output.stl"/>
        <!-- <cylinder radius=".0025" length=".1" /> -->
      </geometry>
      <material name="red">
        <color rgba=".82 0.06 0.06 1"/>
      </material>
    </visual>
    <collision>
      <origin rpy="0 0 0" xyz="0 0 0.0183"/>
      <geometry>
        <cylinder length="0.033" radius="0.026"/>
      </geometry>
    </collision>
    <inertial>
      <origin rpy="0 0 0" xyz="0 0 0"/>
      <mass value="0.103"/>
      <inertia ixx="5.4796e-05" ixy="0" ixz="0" iyy="5.4796e-05" iyz="0" izz="3.4814e-05"/>
    </inertial>
  </link>
  <joint name="SA050__MoJo__OUTPUT_INTERFACE" type="fixed">
    <parent link="SA050__MoJo__OUTPUT_BODY"/>
    <child link="extender__leg4__INPUT_INTERFACE"/>
    <origin rpy="0 0 -1.57075" xyz="0 0 0.0273"/>
  </joint>
  <link name="extender__leg4__INPUT_INTERFACE">
    <visual>
      <origin rpy="0 0 0" xyz="0 0 0.025"/>
      <geometry>
        <cylinder length="0.05" radius=".0254"/>
      </geometry>
      <material name="silver">
        <color rgba="0.6 0.6 0.6 1"/>
      </material>
    </visual>
    <collision>
      <origin rpy="0 0 0" xyz="0 0 0.025"/>
      <geometry>
        <cylinder length="0.05" radius=".0254"/>
      </geometry>
    </collision>
    <inertial>
      <origin rpy="0 0 0" xyz="0 0 0.025"/>
      <mass value=".05"/>
      <inertia ixx="2.50134116667e-05" ixy="0" ixz="0" iyy="2.50134116667e-05" iyz="0" izz="2.919349e-05"/>
    </inertial>
  </link>
  <joint name="extender__leg4__OUTPUT_INTERFACE" type="fixed">
    <parent link="extender__leg4__INPUT_INTERFACE"/>
    <child link="SA031__MoJo__INPUT_INTERFACE"/>
    <origin rpy="0 0 1.57079632679" xyz="0 0 0.05"/>
  </joint>
  <link name="extender__leg4__INPUT_INTERFACE__COLLAR">
    <visual>
      <origin rpy="0 0 0" xyz="0 0 0.005"/>
      <geometry>
        <cylinder length="0.01" radius="0.026"/>
      </geometry>
      <material name="black">
        <color rgba="0 0 0 1"/>
      </material>
    </visual>
  </link>
  <joint name="extender__leg4__INPUT_INTERFACE__COLLAR_JOINT" type="fixed">
    <parent link="extender__leg4__INPUT_INTERFACE"/>
    <child link="extender__leg4__INPUT_INTERFACE__COLLAR"/>
  </joint>
  <link name="SA031__MoJo__INPUT_INTERFACE">
    <visual>
      <origin rpy="1.57075 0 0" xyz="0 0 0.035"/>
      <geometry>
        <mesh filename="package://snake_monster/meshes/rotary_input.stl"/>
      </geometry>
      <material name="red">
        <color rgba=".82 0.06 0.06 1"/>
      </material>
    </visual>
    <collision>
      <origin rpy="0 0 0" xyz="0 0 0.0183"/>
      <geometry>
        <cylinder length="0.033" radius="0.026"/>
      </geometry>
    </collision>
    <inertial>
      <origin rpy="0 0 0" xyz="0 0 0.0366"/>
      <mass value="0.103"/>
      <inertia ixx="5.4796e-05" ixy="0" ixz="0" iyy="5.4796e-05" iyz="0" izz="3.4814e-05"/>
    </inertial>
  </link>
  <link name="SA031__MoJo__INPUT_INTERFACE__COLLAR">
    <visual>
      <origin rpy="0 0 0" xyz="0 0 0.005"/>
      <geometry>
        <cylinder length="0.01" radius="0.026"/>
      </geometry>
      <material name="black">
        <color rgba="0 0 0 1"/>
      </material>
    </visual>
  </link>
  <joint name="SA031__MoJo__INPUT_INTERFACE__COLLAR_JOINT" type="fixed">
    <parent link="SA031__MoJo__INPUT_INTERFACE"/>
    <child link="SA031__MoJo__INPUT_INTERFACE__COLLAR"/>
  </joint>
  <joint name="SA031__MoJo" type="revolute">
    <parent link="SA031__MoJo__INPUT_INTERFACE"/>
    <child link="SA031__MoJo__OUTPUT_BODY"/>
    <origin rpy="0 0 0" xyz="0 0 0.0366"/>
    <axis xyz="0 1 0"/>
    <dynamics damping=".1" friction="0.2"/>
    <limit effort="7.0" lower="-1.57" upper="1.57" velocity="2.208932"/>
  </joint>
  <transmission name="SA031__MoJo_trans">
    <type>transmission_interface/SimpleTransmission</type>
    <joint name="SA031__MoJo">
      <hardwareInterface>EffortJointInterface</hardwareInterface>
    </joint>
    <actuator name="SA031__MoJo_motor">
      <hardwareInterface>EffortJointInterface</hardwareInterface>
      <mechanicalReduction>300</mechanicalReduction>
    </actuator>
  </transmission>
  <link name="SA031__MoJo__OUTPUT_BODY">
    <visual>
      <origin rpy="1.57075 0 0" xyz="0 0 0"/>
      <geometry>
        <mesh filename="package://snake_monster/meshes/rotary_output.stl"/>
        <!-- <cylinder radius=".0025" length=".1" /> -->
      </geometry>
      <material name="red">
        <color rgba=".82 0.06 0.06 1"/>
      </material>
    </visual>
    <collision>
      <origin rpy="0 0 0" xyz="0 0 0.0183"/>
      <geometry>
        <cylinder length="0.033" radius="0.026"/>
      </geometry>
    </collision>
    <inertial>
      <origin rpy="0 0 0" xyz="0 0 0"/>
      <mass value="0.103"/>
      <inertia ixx="5.4796e-05" ixy="0" ixz="0" iyy="5.4796e-05" iyz="0" izz="3.4814e-05"/>
    </inertial>
  </link>
  <joint name="SA031__MoJo__OUTPUT_INTERFACE" type="fixed">
    <parent link="SA031__MoJo__OUTPUT_BODY"/>
    <child link="elbow__leg4__INPUT_INTERFACE"/>
    <origin rpy="0 0 -1.57075" xyz="0 0 0.0273"/>
  </joint>
  <link name="elbow__leg4__INPUT_INTERFACE">
    <visual>
      <origin rpy="0 0 0" xyz="0 0 0.00955"/>
      <geometry>
        <cylinder length="0.0191" radius=".0254"/>
      </geometry>
      <material name="silver">
        <color rgba="0.6 0.6 0.6 1"/>
      </material>
    </visual>
    <visual>
      <origin rpy="1.57075 0 3.14159265359" xyz="0.0274 -0.0782 0.0121"/>
      <geometry>
        <mesh filename="package://snake_monster/meshes/elbow_corner.stl"/>
      </geometry>
      <material name="silver">
        <color rgba="0.6 0.6 0.6 1"/>
      </material>
    </visual>
    <collision>
      <origin rpy="0 0 0" xyz="0 0 0.00955"/>
      <geometry>
        <cylinder length="0.0191" radius=".0254"/>
      </geometry>
    </collision>
    <collision>
      <origin rpy="0 0 0" xyz="0 -0.01 0.0311"/>
      <geometry>
        <sphere radius="0.0191"/>
      </geometry>
    </collision>
    <inertial>
      <origin rpy="0 0 0" xyz="0 0 0.0391"/>
      <mass value=".045"/>
      <inertia ixx="8.6260875e-06" ixy="0" ixz="0" iyy="8.6260875e-06" iyz="0" izz="1.45161e-05"/>
    </inertial>
  </link>
  <link name="elbow__leg4__INPUT_INTERFACE__COLLAR">
    <visual>
      <origin rpy="0 0 0" xyz="0 0 0.005"/>
      <geometry>
        <cylinder length="0.01" radius="0.026"/>
      </geometry>
      <material name="black">
        <color rgba="0 0 0 1"/>
      </material>
    </visual>
  </link>
  <joint name="elbow__leg4__INPUT_INTERFACE__COLLAR_JOINT" type="fixed">
    <parent link="elbow__leg4__INPUT_INTERFACE"/>
    <child link="elbow__leg4__INPUT_INTERFACE__COLLAR"/>
  </joint>
  <joint name="elbow__leg4__MID_ELBOW_JOINT" type="fixed">
    <parent link="elbow__leg4__INPUT_INTERFACE"/>
    <child link="elbow__leg4__AFTER_CORNER_BODY"/>
    <origin rpy="-1.57079632679 0 3.14159265359" xyz="0 0 0.0445"/>
  </joint>
  <link name="elbow__leg4__AFTER_CORNER_BODY">
    <visual>
      <origin rpy="0 0 0" xyz="0 0 0.0857"/>
      <geometry>
        <cylinder length="0.1206" radius=".0254"/>
      </geometry>
      <material name="silver">
        <color rgba="0.6 0.6 0.6 1"/>
      </material>
    </visual>
    <collision>
      <origin rpy="0 0 0" xyz="0 0 0.0857"/>
      <geometry>
        <cylinder length="0.1206" radius=".0254"/>
      </geometry>
    </collision>
    <inertial>
      <origin rpy="0 0 0" xyz="0 0 0.0857"/>
      <mass value=".065"/>
      <inertia ixx="1.24599041667e-05" ixy="0" ixz="0" iyy="1.24599041667e-05" iyz="0" izz="2.09677e-05"/>
    </inertial>
  </link>
  <joint name="elbow__leg4__OUTPUT_INTERFACE" type="fixed">
    <parent link="elbow__leg4__AFTER_CORNER_BODY"/>
    <child link="foot__leg4__INPUT_INTERFACE"/>
    <origin rpy="0 0 -1.57079632679" xyz="0 0 0.146"/>
  </joint>
  <!--TODO: check dimensions -->
  <link name="foot__leg4__INPUT_INTERFACE">
    <visual>
      <origin rpy="0 0 0" xyz="0 0 0"/>
      <geometry>
        <sphere radius=".0254"/>
      </geometry>
      <material name="black">
        <color rgba="0 0 0 1"/>
      </material>
    </visual>
    <collision>
      <origin rpy="0 0 0" xyz="0 0 0"/>
      <geometry>
        <sphere radius=".0254"/>
      </geometry>
    </collision>
  </link>
  <link name="SA002__MoJo__INPUT_INTERFACE">
    <visual>
      <origin rpy="1.57075 0 0" xyz="0 0 0.035"/>
      <geometry>
        <mesh filename="package://snake_monster/meshes/rotary_input.stl"/>
      </geometry>
      <material name="red">
        <color rgba=".82 0.06 0.06 1"/>
      </material>
    </visual>
    <collision>
      <origin rpy="0 0 0" xyz="0 0 0.0183"/>
      <geometry>
        <cylinder length="0.033" radius="0.026"/>
      </geometry>
    </collision>
    <inertial>
      <origin rpy="0 0 0" xyz="0 0 0.0366"/>
      <mass value="0.103"/>
      <inertia ixx="5.4796e-05" ixy="0" ixz="0" iyy="5.4796e-05" iyz="0" izz="3.4814e-05"/>
    </inertial>
  </link>
  <link name="SA002__MoJo__INPUT_INTERFACE__COLLAR">
    <visual>
      <origin rpy="0 0 0" xyz="0 0 0.005"/>
      <geometry>
        <cylinder length="0.01" radius="0.026"/>
      </geometry>
      <material name="black">
        <color rgba="0 0 0 1"/>
      </material>
    </visual>
  </link>
  <joint name="SA002__MoJo__INPUT_INTERFACE__COLLAR_JOINT" type="fixed">
    <parent link="SA002__MoJo__INPUT_INTERFACE"/>
    <child link="SA002__MoJo__INPUT_INTERFACE__COLLAR"/>
  </joint>
  <joint name="SA002__MoJo" type="revolute">
    <parent link="SA002__MoJo__INPUT_INTERFACE"/>
    <child link="SA002__MoJo__OUTPUT_BODY"/>
    <origin rpy="0 0 0" xyz="0 0 0.0366"/>
    <axis xyz="0 1 0"/>
    <dynamics damping=".1" friction="0.2"/>
    <limit effort="7.0" lower="-1.57" upper="1.57" velocity="2.208932"/>
  </joint>
  <transmission name="SA002__MoJo_trans">
    <type>transmission_interface/SimpleTransmission</type>
    <joint name="SA002__MoJo">
      <hardwareInterface>EffortJointInterface</hardwareInterface>
    </joint>
    <actuator name="SA002__MoJo_motor">
      <hardwareInterface>EffortJointInterface</hardwareInterface>
      <mechanicalReduction>300</mechanicalReduction>
    </actuator>
  </transmission>
  <link name="SA002__MoJo__OUTPUT_BODY">
    <visual>
      <origin rpy="1.57075 0 0" xyz="0 0 0"/>
      <geometry>
        <mesh filename="package://snake_monster/meshes/rotary_output.stl"/>
        <!-- <cylinder radius=".0025" length=".1" /> -->
      </geometry>
      <material name="red">
        <color rgba=".82 0.06 0.06 1"/>
      </material>
    </visual>
    <collision>
      <origin rpy="0 0 0" xyz="0 0 0.0183"/>
      <geometry>
        <cylinder length="0.033" radius="0.026"/>
      </geometry>
    </collision>
    <inertial>
      <origin rpy="0 0 0" xyz="0 0 0"/>
      <mass value="0.103"/>
      <inertia ixx="5.4796e-05" ixy="0" ixz="0" iyy="5.4796e-05" iyz="0" izz="3.4814e-05"/>
    </inertial>
  </link>
  <joint name="SA002__MoJo__OUTPUT_INTERFACE" type="fixed">
    <parent link="SA002__MoJo__OUTPUT_BODY"/>
    <child link="SA003__MoJo__INPUT_INTERFACE"/>
    <origin rpy="0 0 -1.57075" xyz="0 0 0.0273"/>
  </joint>
  <link name="SA003__MoJo__INPUT_INTERFACE">
    <visual>
      <origin rpy="1.57075 0 0" xyz="0 0 0.035"/>
      <geometry>
        <mesh filename="package://snake_monster/meshes/rotary_input.stl"/>
      </geometry>
      <material name="red">
        <color rgba=".82 0.06 0.06 1"/>
      </material>
    </visual>
    <collision>
      <origin rpy="0 0 0" xyz="0 0 0.0183"/>
      <geometry>
        <cylinder length="0.033" radius="0.026"/>
      </geometry>
    </collision>
    <inertial>
      <origin rpy="0 0 0" xyz="0 0 0.0366"/>
      <mass value="0.103"/>
      <inertia ixx="5.4796e-05" ixy="0" ixz="0" iyy="5.4796e-05" iyz="0" izz="3.4814e-05"/>
    </inertial>
  </link>
  <link name="SA003__MoJo__INPUT_INTERFACE__COLLAR">
    <visual>
      <origin rpy="0 0 0" xyz="0 0 0.005"/>
      <geometry>
        <cylinder length="0.01" radius="0.026"/>
      </geometry>
      <material name="black">
        <color rgba="0 0 0 1"/>
      </material>
    </visual>
  </link>
  <joint name="SA003__MoJo__INPUT_INTERFACE__COLLAR_JOINT" type="fixed">
    <parent link="SA003__MoJo__INPUT_INTERFACE"/>
    <child link="SA003__MoJo__INPUT_INTERFACE__COLLAR"/>
  </joint>
  <joint name="SA003__MoJo" type="revolute">
    <parent link="SA003__MoJo__INPUT_INTERFACE"/>
    <child link="SA003__MoJo__OUTPUT_BODY"/>
    <origin rpy="0 0 0" xyz="0 0 0.0366"/>
    <axis xyz="0 1 0"/>
    <dynamics damping=".1" friction="0.2"/>
    <limit effort="7.0" lower="-1.57" upper="1.57" velocity="2.208932"/>
  </joint>
  <transmission name="SA003__MoJo_trans">
    <type>transmission_interface/SimpleTransmission</type>
    <joint name="SA003__MoJo">
      <hardwareInterface>EffortJointInterface</hardwareInterface>
    </joint>
    <actuator name="SA003__MoJo_motor">
      <hardwareInterface>EffortJointInterface</hardwareInterface>
      <mechanicalReduction>300</mechanicalReduction>
    </actuator>
  </transmission>
  <link name="SA003__MoJo__OUTPUT_BODY">
    <visual>
      <origin rpy="1.57075 0 0" xyz="0 0 0"/>
      <geometry>
        <mesh filename="package://snake_monster/meshes/rotary_output.stl"/>
        <!-- <cylinder radius=".0025" length=".1" /> -->
      </geometry>
      <material name="red">
        <color rgba=".82 0.06 0.06 1"/>
      </material>
    </visual>
    <collision>
      <origin rpy="0 0 0" xyz="0 0 0.0183"/>
      <geometry>
        <cylinder length="0.033" radius="0.026"/>
      </geometry>
    </collision>
    <inertial>
      <origin rpy="0 0 0" xyz="0 0 0"/>
      <mass value="0.103"/>
      <inertia ixx="5.4796e-05" ixy="0" ixz="0" iyy="5.4796e-05" iyz="0" izz="3.4814e-05"/>
    </inertial>
  </link>
  <joint name="SA003__MoJo__OUTPUT_INTERFACE" type="fixed">
    <parent link="SA003__MoJo__OUTPUT_BODY"/>
    <child link="extender__leg5__INPUT_INTERFACE"/>
    <origin rpy="0 0 -1.57075" xyz="0 0 0.0273"/>
  </joint>
  <link name="extender__leg5__INPUT_INTERFACE">
    <visual>
      <origin rpy="0 0 0" xyz="0 0 0.025"/>
      <geometry>
        <cylinder length="0.05" radius=".0254"/>
      </geometry>
      <material name="silver">
        <color rgba="0.6 0.6 0.6 1"/>
      </material>
    </visual>
    <collision>
      <origin rpy="0 0 0" xyz="0 0 0.025"/>
      <geometry>
        <cylinder length="0.05" radius=".0254"/>
      </geometry>
    </collision>
    <inertial>
      <origin rpy="0 0 0" xyz="0 0 0.025"/>
      <mass value=".05"/>
      <inertia ixx="2.50134116667e-05" ixy="0" ixz="0" iyy="2.50134116667e-05" iyz="0" izz="2.919349e-05"/>
    </inertial>
  </link>
  <joint name="extender__leg5__OUTPUT_INTERFACE" type="fixed">
    <parent link="extender__leg5__INPUT_INTERFACE"/>
    <child link="SA048__MoJo__INPUT_INTERFACE"/>
    <origin rpy="0 0 1.57079632679" xyz="0 0 0.05"/>
  </joint>
  <link name="extender__leg5__INPUT_INTERFACE__COLLAR">
    <visual>
      <origin rpy="0 0 0" xyz="0 0 0.005"/>
      <geometry>
        <cylinder length="0.01" radius="0.026"/>
      </geometry>
      <material name="black">
        <color rgba="0 0 0 1"/>
      </material>
    </visual>
  </link>
  <joint name="extender__leg5__INPUT_INTERFACE__COLLAR_JOINT" type="fixed">
    <parent link="extender__leg5__INPUT_INTERFACE"/>
    <child link="extender__leg5__INPUT_INTERFACE__COLLAR"/>
  </joint>
  <link name="SA048__MoJo__INPUT_INTERFACE">
    <visual>
      <origin rpy="1.57075 0 0" xyz="0 0 0.035"/>
      <geometry>
        <mesh filename="package://snake_monster/meshes/rotary_input.stl"/>
      </geometry>
      <material name="red">
        <color rgba=".82 0.06 0.06 1"/>
      </material>
    </visual>
    <collision>
      <origin rpy="0 0 0" xyz="0 0 0.0183"/>
      <geometry>
        <cylinder length="0.033" radius="0.026"/>
      </geometry>
    </collision>
    <inertial>
      <origin rpy="0 0 0" xyz="0 0 0.0366"/>
      <mass value="0.103"/>
      <inertia ixx="5.4796e-05" ixy="0" ixz="0" iyy="5.4796e-05" iyz="0" izz="3.4814e-05"/>
    </inertial>
  </link>
  <link name="SA048__MoJo__INPUT_INTERFACE__COLLAR">
    <visual>
      <origin rpy="0 0 0" xyz="0 0 0.005"/>
      <geometry>
        <cylinder length="0.01" radius="0.026"/>
      </geometry>
      <material name="black">
        <color rgba="0 0 0 1"/>
      </material>
    </visual>
  </link>
  <joint name="SA048__MoJo__INPUT_INTERFACE__COLLAR_JOINT" type="fixed">
    <parent link="SA048__MoJo__INPUT_INTERFACE"/>
    <child link="SA048__MoJo__INPUT_INTERFACE__COLLAR"/>
  </joint>
  <joint name="SA048__MoJo" type="revolute">
    <parent link="SA048__MoJo__INPUT_INTERFACE"/>
    <child link="SA048__MoJo__OUTPUT_BODY"/>
    <origin rpy="0 0 0" xyz="0 0 0.0366"/>
    <axis xyz="0 1 0"/>
    <dynamics damping=".1" friction="0.2"/>
    <limit effort="7.0" lower="-1.57" upper="1.57" velocity="2.208932"/>
  </joint>
  <transmission name="SA048__MoJo_trans">
    <type>transmission_interface/SimpleTransmission</type>
    <joint name="SA048__MoJo">
      <hardwareInterface>EffortJointInterface</hardwareInterface>
    </joint>
    <actuator name="SA048__MoJo_motor">
      <hardwareInterface>EffortJointInterface</hardwareInterface>
      <mechanicalReduction>300</mechanicalReduction>
    </actuator>
  </transmission>
  <link name="SA048__MoJo__OUTPUT_BODY">
    <visual>
      <origin rpy="1.57075 0 0" xyz="0 0 0"/>
      <geometry>
        <mesh filename="package://snake_monster/meshes/rotary_output.stl"/>
        <!-- <cylinder radius=".0025" length=".1" /> -->
      </geometry>
      <material name="red">
        <color rgba=".82 0.06 0.06 1"/>
      </material>
    </visual>
    <collision>
      <origin rpy="0 0 0" xyz="0 0 0.0183"/>
      <geometry>
        <cylinder length="0.033" radius="0.026"/>
      </geometry>
    </collision>
    <inertial>
      <origin rpy="0 0 0" xyz="0 0 0"/>
      <mass value="0.103"/>
      <inertia ixx="5.4796e-05" ixy="0" ixz="0" iyy="5.4796e-05" iyz="0" izz="3.4814e-05"/>
    </inertial>
  </link>
  <joint name="SA048__MoJo__OUTPUT_INTERFACE" type="fixed">
    <parent link="SA048__MoJo__OUTPUT_BODY"/>
    <child link="elbow__leg5__INPUT_INTERFACE"/>
    <origin rpy="0 0 -1.57075" xyz="0 0 0.0273"/>
  </joint>
  <link name="elbow__leg5__INPUT_INTERFACE">
    <visual>
      <origin rpy="0 0 0" xyz="0 0 0.00955"/>
      <geometry>
        <cylinder length="0.0191" radius=".0254"/>
      </geometry>
      <material name="silver">
        <color rgba="0.6 0.6 0.6 1"/>
      </material>
    </visual>
    <visual>
      <origin rpy="1.57075 0 3.14159265359" xyz="0.0274 -0.0782 0.0121"/>
      <geometry>
        <mesh filename="package://snake_monster/meshes/elbow_corner.stl"/>
      </geometry>
      <material name="silver">
        <color rgba="0.6 0.6 0.6 1"/>
      </material>
    </visual>
    <collision>
      <origin rpy="0 0 0" xyz="0 0 0.00955"/>
      <geometry>
        <cylinder length="0.0191" radius=".0254"/>
      </geometry>
    </collision>
    <collision>
      <origin rpy="0 0 0" xyz="0 -0.01 0.0311"/>
      <geometry>
        <sphere radius="0.0191"/>
      </geometry>
    </collision>
    <inertial>
      <origin rpy="0 0 0" xyz="0 0 0.0391"/>
      <mass value=".045"/>
      <inertia ixx="8.6260875e-06" ixy="0" ixz="0" iyy="8.6260875e-06" iyz="0" izz="1.45161e-05"/>
    </inertial>
  </link>
  <link name="elbow__leg5__INPUT_INTERFACE__COLLAR">
    <visual>
      <origin rpy="0 0 0" xyz="0 0 0.005"/>
      <geometry>
        <cylinder length="0.01" radius="0.026"/>
      </geometry>
      <material name="black">
        <color rgba="0 0 0 1"/>
      </material>
    </visual>
  </link>
  <joint name="elbow__leg5__INPUT_INTERFACE__COLLAR_JOINT" type="fixed">
    <parent link="elbow__leg5__INPUT_INTERFACE"/>
    <child link="elbow__leg5__INPUT_INTERFACE__COLLAR"/>
  </joint>
  <joint name="elbow__leg5__MID_ELBOW_JOINT" type="fixed">
    <parent link="elbow__leg5__INPUT_INTERFACE"/>
    <child link="elbow__leg5__AFTER_CORNER_BODY"/>
    <origin rpy="-1.57079632679 0 3.14159265359" xyz="0 0 0.0445"/>
  </joint>
  <link name="elbow__leg5__AFTER_CORNER_BODY">
    <visual>
      <origin rpy="0 0 0" xyz="0 0 0.0857"/>
      <geometry>
        <cylinder length="0.1206" radius=".0254"/>
      </geometry>
      <material name="silver">
        <color rgba="0.6 0.6 0.6 1"/>
      </material>
    </visual>
    <collision>
      <origin rpy="0 0 0" xyz="0 0 0.0857"/>
      <geometry>
        <cylinder length="0.1206" radius=".0254"/>
      </geometry>
    </collision>
    <inertial>
      <origin rpy="0 0 0" xyz="0 0 0.0857"/>
      <mass value=".065"/>
      <inertia ixx="1.24599041667e-05" ixy="0" ixz="0" iyy="1.24599041667e-05" iyz="0" izz="2.09677e-05"/>
    </inertial>
  </link>
  <joint name="elbow__leg5__OUTPUT_INTERFACE" type="fixed">
    <parent link="elbow__leg5__AFTER_CORNER_BODY"/>
    <child link="foot__leg5__INPUT_INTERFACE"/>
    <origin rpy="0 0 -1.57079632679" xyz="0 0 0.146"/>
  </joint>
  <!--TODO: check dimensions -->
  <link name="foot__leg5__INPUT_INTERFACE">
    <visual>
      <origin rpy="0 0 0" xyz="0 0 0"/>
      <geometry>
        <sphere radius=".0254"/>
      </geometry>
      <material name="black">
        <color rgba="0 0 0 1"/>
      </material>
    </visual>
    <collision>
      <origin rpy="0 0 0" xyz="0 0 0"/>
      <geometry>
        <sphere radius=".0254"/>
      </geometry>
    </collision>
  </link>
  <link name="SA043__MoJo__INPUT_INTERFACE">
    <visual>
      <origin rpy="1.57075 0 0" xyz="0 0 0.035"/>
      <geometry>
        <mesh filename="package://snake_monster/meshes/rotary_input.stl"/>
      </geometry>
      <material name="red">
        <color rgba=".82 0.06 0.06 1"/>
      </material>
    </visual>
    <collision>
      <origin rpy="0 0 0" xyz="0 0 0.0183"/>
      <geometry>
        <cylinder length="0.033" radius="0.026"/>
      </geometry>
    </collision>
    <inertial>
      <origin rpy="0 0 0" xyz="0 0 0.0366"/>
      <mass value="0.103"/>
      <inertia ixx="5.4796e-05" ixy="0" ixz="0" iyy="5.4796e-05" iyz="0" izz="3.4814e-05"/>
    </inertial>
  </link>
  <link name="SA043__MoJo__INPUT_INTERFACE__COLLAR">
    <visual>
      <origin rpy="0 0 0" xyz="0 0 0.005"/>
      <geometry>
        <cylinder length="0.01" radius="0.026"/>
      </geometry>
      <material name="black">
        <color rgba="0 0 0 1"/>
      </material>
    </visual>
  </link>
  <joint name="SA043__MoJo__INPUT_INTERFACE__COLLAR_JOINT" type="fixed">
    <parent link="SA043__MoJo__INPUT_INTERFACE"/>
    <child link="SA043__MoJo__INPUT_INTERFACE__COLLAR"/>
  </joint>
  <joint name="SA043__MoJo" type="revolute">
    <parent link="SA043__MoJo__INPUT_INTERFACE"/>
    <child link="SA043__MoJo__OUTPUT_BODY"/>
    <origin rpy="0 0 0" xyz="0 0 0.0366"/>
    <axis xyz="0 1 0"/>
    <dynamics damping=".1" friction="0.2"/>
    <limit effort="7.0" lower="-1.57" upper="1.57" velocity="2.208932"/>
  </joint>
  <transmission name="SA043__MoJo_trans">
    <type>transmission_interface/SimpleTransmission</type>
    <joint name="SA043__MoJo">
      <hardwareInterface>EffortJointInterface</hardwareInterface>
    </joint>
    <actuator name="SA043__MoJo_motor">
      <hardwareInterface>EffortJointInterface</hardwareInterface>
      <mechanicalReduction>300</mechanicalReduction>
    </actuator>
  </transmission>
  <link name="SA043__MoJo__OUTPUT_BODY">
    <visual>
      <origin rpy="1.57075 0 0" xyz="0 0 0"/>
      <geometry>
        <mesh filename="package://snake_monster/meshes/rotary_output.stl"/>
        <!-- <cylinder radius=".0025" length=".1" /> -->
      </geometry>
      <material name="red">
        <color rgba=".82 0.06 0.06 1"/>
      </material>
    </visual>
    <collision>
      <origin rpy="0 0 0" xyz="0 0 0.0183"/>
      <geometry>
        <cylinder length="0.033" radius="0.026"/>
      </geometry>
    </collision>
    <inertial>
      <origin rpy="0 0 0" xyz="0 0 0"/>
      <mass value="0.103"/>
      <inertia ixx="5.4796e-05" ixy="0" ixz="0" iyy="5.4796e-05" iyz="0" izz="3.4814e-05"/>
    </inertial>
  </link>
  <joint name="SA043__MoJo__OUTPUT_INTERFACE" type="fixed">
    <parent link="SA043__MoJo__OUTPUT_BODY"/>
    <child link="SA005__MoJo__INPUT_INTERFACE"/>
    <origin rpy="0 0 -1.57075" xyz="0 0 0.0273"/>
  </joint>
  <link name="SA005__MoJo__INPUT_INTERFACE">
    <visual>
      <origin rpy="1.57075 0 0" xyz="0 0 0.035"/>
      <geometry>
        <mesh filename="package://snake_monster/meshes/rotary_input.stl"/>
      </geometry>
      <material name="red">
        <color rgba=".82 0.06 0.06 1"/>
      </material>
    </visual>
    <collision>
      <origin rpy="0 0 0" xyz="0 0 0.0183"/>
      <geometry>
        <cylinder length="0.033" radius="0.026"/>
      </geometry>
    </collision>
    <inertial>
      <origin rpy="0 0 0" xyz="0 0 0.0366"/>
      <mass value="0.103"/>
      <inertia ixx="5.4796e-05" ixy="0" ixz="0" iyy="5.4796e-05" iyz="0" izz="3.4814e-05"/>
    </inertial>
  </link>
  <link name="SA005__MoJo__INPUT_INTERFACE__COLLAR">
    <visual>
      <origin rpy="0 0 0" xyz="0 0 0.005"/>
      <geometry>
        <cylinder length="0.01" radius="0.026"/>
      </geometry>
      <material name="black">
        <color rgba="0 0 0 1"/>
      </material>
    </visual>
  </link>
  <joint name="SA005__MoJo__INPUT_INTERFACE__COLLAR_JOINT" type="fixed">
    <parent link="SA005__MoJo__INPUT_INTERFACE"/>
    <child link="SA005__MoJo__INPUT_INTERFACE__COLLAR"/>
  </joint>
  <joint name="SA005__MoJo" type="revolute">
    <parent link="SA005__MoJo__INPUT_INTERFACE"/>
    <child link="SA005__MoJo__OUTPUT_BODY"/>
    <origin rpy="0 0 0" xyz="0 0 0.0366"/>
    <axis xyz="0 1 0"/>
    <dynamics damping=".1" friction="0.2"/>
    <limit effort="7.0" lower="-1.57" upper="1.57" velocity="2.208932"/>
  </joint>
  <transmission name="SA005__MoJo_trans">
    <type>transmission_interface/SimpleTransmission</type>
    <joint name="SA005__MoJo">
      <hardwareInterface>EffortJointInterface</hardwareInterface>
    </joint>
    <actuator name="SA005__MoJo_motor">
      <hardwareInterface>EffortJointInterface</hardwareInterface>
      <mechanicalReduction>300</mechanicalReduction>
    </actuator>
  </transmission>
  <link name="SA005__MoJo__OUTPUT_BODY">
    <visual>
      <origin rpy="1.57075 0 0" xyz="0 0 0"/>
      <geometry>
        <mesh filename="package://snake_monster/meshes/rotary_output.stl"/>
        <!-- <cylinder radius=".0025" length=".1" /> -->
      </geometry>
      <material name="red">
        <color rgba=".82 0.06 0.06 1"/>
      </material>
    </visual>
    <collision>
      <origin rpy="0 0 0" xyz="0 0 0.0183"/>
      <geometry>
        <cylinder length="0.033" radius="0.026"/>
      </geometry>
    </collision>
    <inertial>
      <origin rpy="0 0 0" xyz="0 0 0"/>
      <mass value="0.103"/>
      <inertia ixx="5.4796e-05" ixy="0" ixz="0" iyy="5.4796e-05" iyz="0" izz="3.4814e-05"/>
    </inertial>
  </link>
  <joint name="SA005__MoJo__OUTPUT_INTERFACE" type="fixed">
    <parent link="SA005__MoJo__OUTPUT_BODY"/>
    <child link="extender__leg6__INPUT_INTERFACE"/>
    <origin rpy="0 0 -1.57075" xyz="0 0 0.0273"/>
  </joint>
  <link name="extender__leg6__INPUT_INTERFACE">
    <visual>
      <origin rpy="0 0 0" xyz="0 0 0.025"/>
      <geometry>
        <cylinder length="0.05" radius=".0254"/>
      </geometry>
      <material name="silver">
        <color rgba="0.6 0.6 0.6 1"/>
      </material>
    </visual>
    <collision>
      <origin rpy="0 0 0" xyz="0 0 0.025"/>
      <geometry>
        <cylinder length="0.05" radius=".0254"/>
      </geometry>
    </collision>
    <inertial>
      <origin rpy="0 0 0" xyz="0 0 0.025"/>
      <mass value=".05"/>
      <inertia ixx="2.50134116667e-05" ixy="0" ixz="0" iyy="2.50134116667e-05" iyz="0" izz="2.919349e-05"/>
    </inertial>
  </link>
  <joint name="extender__leg6__OUTPUT_INTERFACE" type="fixed">
    <parent link="extender__leg6__INPUT_INTERFACE"/>
    <child link="SA001__MoJo__INPUT_INTERFACE"/>
    <origin rpy="0 0 1.57079632679" xyz="0 0 0.05"/>
  </joint>
  <link name="extender__leg6__INPUT_INTERFACE__COLLAR">
    <visual>
      <origin rpy="0 0 0" xyz="0 0 0.005"/>
      <geometry>
        <cylinder length="0.01" radius="0.026"/>
      </geometry>
      <material name="black">
        <color rgba="0 0 0 1"/>
      </material>
    </visual>
  </link>
  <joint name="extender__leg6__INPUT_INTERFACE__COLLAR_JOINT" type="fixed">
    <parent link="extender__leg6__INPUT_INTERFACE"/>
    <child link="extender__leg6__INPUT_INTERFACE__COLLAR"/>
  </joint>
  <link name="SA001__MoJo__INPUT_INTERFACE">
    <visual>
      <origin rpy="1.57075 0 0" xyz="0 0 0.035"/>
      <geometry>
        <mesh filename="package://snake_monster/meshes/rotary_input.stl"/>
      </geometry>
      <material name="red">
        <color rgba=".82 0.06 0.06 1"/>
      </material>
    </visual>
    <collision>
      <origin rpy="0 0 0" xyz="0 0 0.0183"/>
      <geometry>
        <cylinder length="0.033" radius="0.026"/>
      </geometry>
    </collision>
    <inertial>
      <origin rpy="0 0 0" xyz="0 0 0.0366"/>
      <mass value="0.103"/>
      <inertia ixx="5.4796e-05" ixy="0" ixz="0" iyy="5.4796e-05" iyz="0" izz="3.4814e-05"/>
    </inertial>
  </link>
  <link name="SA001__MoJo__INPUT_INTERFACE__COLLAR">
    <visual>
      <origin rpy="0 0 0" xyz="0 0 0.005"/>
      <geometry>
        <cylinder length="0.01" radius="0.026"/>
      </geometry>
      <material name="black">
        <color rgba="0 0 0 1"/>
      </material>
    </visual>
  </link>
  <joint name="SA001__MoJo__INPUT_INTERFACE__COLLAR_JOINT" type="fixed">
    <parent link="SA001__MoJo__INPUT_INTERFACE"/>
    <child link="SA001__MoJo__INPUT_INTERFACE__COLLAR"/>
  </joint>
  <joint name="SA001__MoJo" type="revolute">
    <parent link="SA001__MoJo__INPUT_INTERFACE"/>
    <child link="SA001__MoJo__OUTPUT_BODY"/>
    <origin rpy="0 0 0" xyz="0 0 0.0366"/>
    <axis xyz="0 1 0"/>
    <dynamics damping=".1" friction="0.2"/>
    <limit effort="7.0" lower="-1.57" upper="1.57" velocity="2.208932"/>
  </joint>
  <transmission name="SA001__MoJo_trans">
    <type>transmission_interface/SimpleTransmission</type>
    <joint name="SA001__MoJo">
      <hardwareInterface>EffortJointInterface</hardwareInterface>
    </joint>
    <actuator name="SA001__MoJo_motor">
      <hardwareInterface>EffortJointInterface</hardwareInterface>
      <mechanicalReduction>300</mechanicalReduction>
    </actuator>
  </transmission>
  <link name="SA001__MoJo__OUTPUT_BODY">
    <visual>
      <origin rpy="1.57075 0 0" xyz="0 0 0"/>
      <geometry>
        <mesh filename="package://snake_monster/meshes/rotary_output.stl"/>
        <!-- <cylinder radius=".0025" length=".1" /> -->
      </geometry>
      <material name="red">
        <color rgba=".82 0.06 0.06 1"/>
      </material>
    </visual>
    <collision>
      <origin rpy="0 0 0" xyz="0 0 0.0183"/>
      <geometry>
        <cylinder length="0.033" radius="0.026"/>
      </geometry>
    </collision>
    <inertial>
      <origin rpy="0 0 0" xyz="0 0 0"/>
      <mass value="0.103"/>
      <inertia ixx="5.4796e-05" ixy="0" ixz="0" iyy="5.4796e-05" iyz="0" izz="3.4814e-05"/>
    </inertial>
  </link>
  <joint name="SA001__MoJo__OUTPUT_INTERFACE" type="fixed">
    <parent link="SA001__MoJo__OUTPUT_BODY"/>
    <child link="elbow__leg6__INPUT_INTERFACE"/>
    <origin rpy="0 0 -1.57075" xyz="0 0 0.0273"/>
  </joint>
  <link name="elbow__leg6__INPUT_INTERFACE">
    <visual>
      <origin rpy="0 0 0" xyz="0 0 0.00955"/>
      <geometry>
        <cylinder length="0.0191" radius=".0254"/>
      </geometry>
      <material name="silver">
        <color rgba="0.6 0.6 0.6 1"/>
      </material>
    </visual>
    <visual>
      <origin rpy="1.57075 0 3.14159265359" xyz="0.0274 -0.0782 0.0121"/>
      <geometry>
        <mesh filename="package://snake_monster/meshes/elbow_corner.stl"/>
      </geometry>
      <material name="silver">
        <color rgba="0.6 0.6 0.6 1"/>
      </material>
    </visual>
    <collision>
      <origin rpy="0 0 0" xyz="0 0 0.00955"/>
      <geometry>
        <cylinder length="0.0191" radius=".0254"/>
      </geometry>
    </collision>
    <collision>
      <origin rpy="0 0 0" xyz="0 -0.01 0.0311"/>
      <geometry>
        <sphere radius="0.0191"/>
      </geometry>
    </collision>
    <inertial>
      <origin rpy="0 0 0" xyz="0 0 0.0391"/>
      <mass value=".045"/>
      <inertia ixx="8.6260875e-06" ixy="0" ixz="0" iyy="8.6260875e-06" iyz="0" izz="1.45161e-05"/>
    </inertial>
  </link>
  <link name="elbow__leg6__INPUT_INTERFACE__COLLAR">
    <visual>
      <origin rpy="0 0 0" xyz="0 0 0.005"/>
      <geometry>
        <cylinder length="0.01" radius="0.026"/>
      </geometry>
      <material name="black">
        <color rgba="0 0 0 1"/>
      </material>
    </visual>
  </link>
  <joint name="elbow__leg6__INPUT_INTERFACE__COLLAR_JOINT" type="fixed">
    <parent link="elbow__leg6__INPUT_INTERFACE"/>
    <child link="elbow__leg6__INPUT_INTERFACE__COLLAR"/>
  </joint>
  <joint name="elbow__leg6__MID_ELBOW_JOINT" type="fixed">
    <parent link="elbow__leg6__INPUT_INTERFACE"/>
    <child link="elbow__leg6__AFTER_CORNER_BODY"/>
    <origin rpy="-1.57079632679 0 3.14159265359" xyz="0 0 0.0445"/>
  </joint>
  <link name="elbow__leg6__AFTER_CORNER_BODY">
    <visual>
      <origin rpy="0 0 0" xyz="0 0 0.0857"/>
      <geometry>
        <cylinder length="0.1206" radius=".0254"/>
      </geometry>
      <material name="silver">
        <color rgba="0.6 0.6 0.6 1"/>
      </material>
    </visual>
    <collision>
      <origin rpy="0 0 0" xyz="0 0 0.0857"/>
      <geometry>
        <cylinder length="0.1206" radius=".0254"/>
      </geometry>
    </collision>
    <inertial>
      <origin rpy="0 0 0" xyz="0 0 0.0857"/>
      <mass value=".065"/>
      <inertia ixx="1.24599041667e-05" ixy="0" ixz="0" iyy="1.24599041667e-05" iyz="0" izz="2.09677e-05"/>
    </inertial>
  </link>
  <joint name="elbow__leg6__OUTPUT_INTERFACE" type="fixed">
    <parent link="elbow__leg6__AFTER_CORNER_BODY"/>
    <child link="foot__leg6__INPUT_INTERFACE"/>
    <origin rpy="0 0 -1.57079632679" xyz="0 0 0.146"/>
  </joint>
  <!--TODO: check dimensions -->
  <link name="foot__leg6__INPUT_INTERFACE">
    <visual>
      <origin rpy="0 0 0" xyz="0 0 0"/>
      <geometry>
        <sphere radius=".0254"/>
      </geometry>
      <material name="black">
        <color rgba="0 0 0 1"/>
      </material>
    </visual>
    <collision>
      <origin rpy="0 0 0" xyz="0 0 0"/>
      <geometry>
        <sphere radius=".0254"/>
      </geometry>
    </collision>
  </link>
  <gazebo>
    <plugin filename="libgazebo_ros_p3d.so" name="p3d">
      <alwaysOn>true</alwaysOn>
      <updateRate>1000.0</updateRate>
      <bodyName>base</bodyName>
      <topicName>nav_msgs</topicName>
      <frameName>world</frameName>
      <xyzOffsets>0 0 0.0</xyzOffsets>
      <rpyOffsets>0 0 0.0</rpyOffsets>
    </plugin>
  </gazebo>
</robot>
